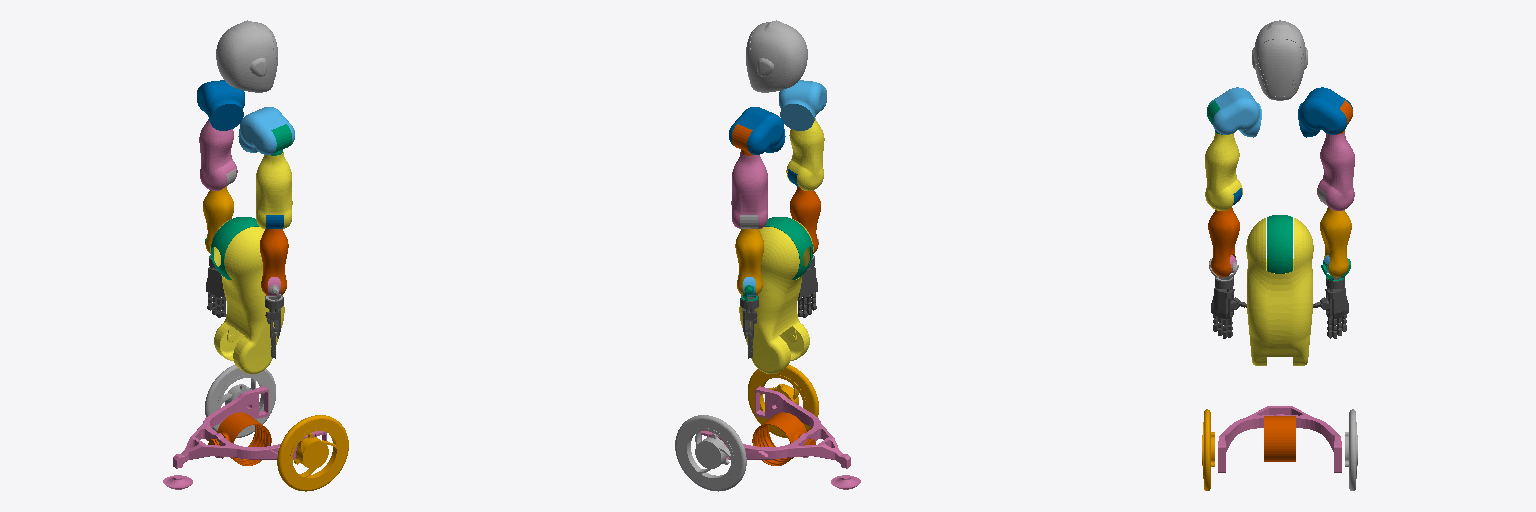
--- Facts derived from the render (not from the file) ---
3 views of the same robot in one strip: view 1: azimuth 30°, elevation 25°; view 2: azimuth 150°, elevation 25°; view 3: azimuth 270°, elevation 25° (orthographic).
Model Eve with 96 links and 95 joints (21 revolute, 2 continuous, 72 fixed), rooted at pelvis, posed all joints at 0 but 2 set to mid-range because 0 is outside their limits (j_r_shoulder_z = 1.09, j_l_shoulder_z = -1.09).
Links seen in each view (by area): view 1: thigh, r_wheel, head, base, r_upper_arm, l_wheel, l_upper_arm, l_scapula, r_scapula, r_lower_arm, ankle_y_link, l_lower_arm (+1 smaller); view 2: thigh, l_wheel, head, base, l_upper_arm, r_wheel, r_upper_arm, r_scapula, l_scapula, l_lower_arm, ankle_y_link, r_lower_arm (+1 smaller); view 3: thigh, head, l_upper_arm, r_upper_arm, base, r_scapula, l_scapula, r_lower_arm, l_lower_arm, hip_x_link, ankle_y_link, l_wheel (+3 smaller).
Boxes of the visible links, bbox=[...] form: thigh: bbox=[210, 219, 284, 373]; r_wheel: bbox=[277, 415, 348, 491]; head: bbox=[216, 20, 277, 92]; base: bbox=[163, 386, 326, 489]; r_upper_arm: bbox=[256, 152, 292, 228]; l_wheel: bbox=[205, 365, 275, 437]; l_upper_arm: bbox=[199, 119, 237, 190]; l_scapula: bbox=[197, 80, 244, 130]; r_scapula: bbox=[238, 107, 294, 154]; r_lower_arm: bbox=[260, 229, 288, 295]; ankle_y_link: bbox=[208, 412, 271, 465]; l_lower_arm: bbox=[203, 186, 233, 253]; thigh: bbox=[739, 219, 813, 373]; l_wheel: bbox=[675, 415, 746, 491]; head: bbox=[746, 20, 807, 92]; base: bbox=[701, 386, 860, 489]; l_upper_arm: bbox=[731, 152, 767, 228]; r_wheel: bbox=[748, 365, 818, 437]; r_upper_arm: bbox=[786, 118, 824, 190]; r_scapula: bbox=[779, 80, 826, 130]; l_scapula: bbox=[729, 107, 785, 154]; l_lower_arm: bbox=[735, 229, 763, 295]; ankle_y_link: bbox=[752, 412, 815, 465]; r_lower_arm: bbox=[790, 186, 820, 253]; thigh: bbox=[1246, 218, 1313, 365]; head: bbox=[1252, 20, 1307, 100]; l_upper_arm: bbox=[1317, 132, 1354, 210]; r_upper_arm: bbox=[1205, 132, 1242, 210]; base: bbox=[1218, 406, 1341, 472]; r_scapula: bbox=[1207, 87, 1261, 137]; l_scapula: bbox=[1298, 87, 1352, 137]; r_lower_arm: bbox=[1208, 207, 1239, 277]; l_lower_arm: bbox=[1320, 207, 1351, 277]; hip_x_link: bbox=[1267, 215, 1292, 273]; ankle_y_link: bbox=[1264, 416, 1295, 461]; l_wheel: bbox=[1345, 409, 1357, 490].
Size in the robot's own frame: 0.6336 by 0.5797 by 1.84 metres.
63 mesh visuals loaded from 25 distinct referenced files (22 OBJ); not drawn: 3 (reference not matched to a file when rendering).

robot.urdf — Eve:
<?xml version="1.0" encoding="UTF-8" standalone="yes"?>
<robot xmlns:ns2="http://www.ros.org" xmlns:xi="http://www.w3.org/2003/XInclude" name="Eve">

  <link name="pelvis">
    <inertial>
      <origin xyz="-0.01035145 -0.00576441 0.41289202" rpy="0.0 0.0 0.0"/>
      <mass value="10.11628645"/>
      <inertia ixx="0.16934147" ixy="1.49E-4" ixz="0.00652485" iyy="0.1566806" iyz="-0.00748297" izz="0.05486492"/>
    </inertial>
    <visual>
      <origin xyz="0.0 0.0 0.0" rpy="1.5707963 0.0 1.5707963"/>
      <geometry>
        <mesh filename="package://eve/meshes/7dof_torso.obj" scale="1 1 1"/>
      </geometry>
    </visual>
  </link>
  <joint name="j_hip_z" type="revolute">
    <origin xyz="0.0 0.0 0.0" rpy="0.0 0.0 0.0"/>
    <parent link="pelvis"/>
    <child link="abdomen"/>
    <axis xyz="0.0 0.0 1.0"/>
    <limit lower="-1.0472" upper="1.0472" effort="-1.0" velocity="1.0"/>
  </joint>
  <transmission name="j_hip_z_trans">
	  <type>transmission_interface/SimpleTransmission</type>
	  <joint name="j_hip_z">
	    <hardwareInterface>EffortJointInterface</hardwareInterface>
	  </joint>
	  <actuator name="j_hip_z_actuator">
	  </actuator>
	</transmission>

  <link name="abdomen">
    <inertial>
      <origin xyz="-0.05558735 0.00156974 0.13110756" rpy="0.0 0.0 0.0"/>
      <mass value="3.4381772"/>
      <inertia ixx="0.05607222" ixy="7.0118E-4" ixz="-0.01468099" iyy="0.05435718" iyz="-0.00188443" izz="0.02016737"/>
    </inertial>
    <visual>
      <origin xyz="0.0 0.0 0.0" rpy="1.5707963 0.0 1.5707963"/>
      <geometry>
        <mesh filename="package://eve/meshes/abdomen.obj" scale="1 1 1"/>
      </geometry>
    </visual>
  </link>
  <joint name="j_hip_x" type="revolute">
    <origin xyz="0.0 0.0 0.0" rpy="0.0 0.0 0.0"/>
    <parent link="abdomen"/>
    <child link="hip_x_link"/>
    <axis xyz="1.0 0.0 0.0"/>
    <limit lower="-0.523599" upper="0.523599" effort="-1.0" velocity="1.0"/>
  </joint>
  <link name="hip_x_link">
    <inertial>
      <origin xyz="-0.013462 -0.001267 -7.7E-5" rpy="0.0 0.0 0.0"/>
      <mass value="2.868669"/>
      <inertia ixx="0.013678" ixy="5.6E-5" ixz="-7.6E-4" iyy="0.014884" iyz="1.4E-5" izz="0.016484"/>
    </inertial>
    <visual>
      <origin xyz="0.0 0.0 0.0" rpy="1.5707963 0.0 1.5707963"/>
      <geometry>
        <mesh filename="package://eve/meshes/hip.obj" scale="1 1 1"/>
      </geometry>
    </visual>
  </link>
  <joint name="j_hip_y" type="revolute">
    <origin xyz="0.0 0.0 0.0" rpy="0.0 0.0 0.0"/>
    <parent link="hip_x_link"/>
    <child link="thigh"/>
    <axis xyz="0.0 1.0 0.0"/>
    <limit lower="-1.57" upper="0.174533" effort="-1.0" velocity="1.0"/>
  </joint>
  <link name="thigh">
    <inertial>
      <origin xyz="0.048668 0.002117 -0.216367" rpy="0.0 0.0 0.0"/>
      <mass value="12.846698"/>
      <inertia ixx="0.172201" ixy="-0.001348" ixz="0.012646" iyy="0.155119" iyz="-6.0E-4" izz="0.076153"/>
    </inertial>
    <visual>
      <origin xyz="0.0 0.0 0.0" rpy="1.5707963 0.0 1.5707963"/>
      <geometry>
        <mesh filename="package://eve/meshes/thigh.obj" scale="1 1 1"/>
      </geometry>
    </visual>
  </link>
  <joint name="j_knee_y" type="revolute">
    <origin xyz="0.0 0.0 -0.4" rpy="0.0 0.0 0.0"/>
    <parent link="thigh"/>
    <child link="shin"/>
    <axis xyz="0.0 1.0 0.0"/>
    <limit lower="0.0" upper="2.583" effort="-1.0" velocity="1.0"/>
  </joint>
  <link name="shin">
    <inertial>
      <origin xyz="0.019484 6.7E-5 -0.167324" rpy="0.0 0.0 0.0"/>
      <mass value="10.894892"/>
      <inertia ixx="0.191988" ixy="-2.08E-4" ixz="0.005202" iyy="0.176793" iyz="-3.45E-4" izz="0.049718"/>
    </inertial>
    <visual>
      <origin xyz="0.0 0.0 0.0" rpy="1.5707963 0.0 1.5707963"/>
      <geometry>
        <mesh filename="package://eve/meshes/shin.obj" scale="1 1 1"/>
      </geometry>
    </visual>
  </link>
  <joint name="j_ankle_y" type="revolute">
    <origin xyz="0.0 0.0 -0.38" rpy="0.0 0.0 0.0"/>
    <parent link="shin"/>
    <child link="ankle_y_link"/>
    <axis xyz="0.0 1.0 0.0"/>
    <limit lower="-1.57" upper="0.174533" effort="-1.0" velocity="1.0"/>
  </joint>
  <link name="ankle_y_link">
    <inertial>
      <origin xyz="-0.017821 0.001497 -6.49E-4" rpy="0.0 0.0 0.0"/>
      <mass value="2.656189"/>
      <inertia ixx="0.010249" ixy="-8.2E-5" ixz="2.65E-4" iyy="0.009117" iyz="9.0E-6" izz="0.013843"/>
    </inertial>
    <visual>
      <origin xyz="0.0 0.0 0.0" rpy="1.5707963 0.0 1.5707963"/>
      <geometry>
        <mesh filename="package://eve/meshes/ankle.obj" scale="1 1 1"/>
      </geometry>
    </visual>
  </link>
  <joint name="j_ankle_x" type="revolute">
    <origin xyz="0.0 0.0 0.0" rpy="0.0 0.0 0.0"/>
    <parent link="ankle_y_link"/>
    <child link="base"/>
    <axis xyz="1.0 0.0 0.0"/>
    <limit lower="-0.523599" upper="0.523599" effort="-1.0" velocity="1.0"/>
  </joint>
  <link name="base">
    <inertial>
      <origin xyz="0.021997 0.006327 -0.006204" rpy="0.0 0.0 0.0"/>
      <mass value="13.647499"/>
      <inertia ixx="0.461101" ixy="-0.004042" ixz="-0.020010" iyy="0.246583" iyz="-0.000110" izz="0.679520"/>
    </inertial>
    <visual>
      <origin xyz="0.0 0.0 0.0" rpy="1.5707963 0.0 1.5707963"/>
      <geometry>
        <mesh filename="package://eve/meshes/base_wheels.obj" scale="1 1 1"/>
      </geometry>
    </visual>
  </link>
  <joint name="j_l_wheel_y" type="continuous">
    <origin xyz="0.142 0.26983 0.019" rpy="0.0 0.0 0.0"/>
    <parent link="base"/>
    <child link="l_wheel"/>
    <axis xyz="0.0 1.0 0.0"/>
    <limit lower="-1.0E16" upper="1.0E16" effort="-1.0" velocity="1.0"/>
  </joint>
  <link name="l_wheel">
    <inertial>
      <origin xyz="0.0 0.0 0.0" rpy="0.0 0.0 0.0"/>
      <mass value="1.52693"/>
      <inertia ixx="0.007129" ixy="-0.0" ixz="-0.0" iyy="0.013685" iyz="-0.0" izz="0.007131"/>
    </inertial>
    <visual>
      <origin xyz="0.0 0.0 0.0" rpy="1.5707963 0.0 -1.5707963"/>
      <geometry>
        <mesh filename="package://eve/meshes/wheel.obj" scale="1 1 1"/>
      </geometry>
    </visual>
  </link>
  <joint name="j_r_wheel_y" type="continuous">
    <origin xyz="0.142 -0.26983 0.019" rpy="0.0 0.0 0.0"/>
    <parent link="base"/>
    <child link="r_wheel"/>
    <axis xyz="0.0 1.0 0.0"/>
    <limit lower="-1.0E16" upper="1.0E16" effort="-1.0" velocity="1.0"/>
  </joint>
  <link name="r_wheel">
    <inertial>
      <origin xyz="0.0 0.0 0.0" rpy="0.0 0.0 0.0"/>
      <mass value="1.52693"/>
      <inertia ixx="0.007129" ixy="-0.0" ixz="-0.0" iyy="0.013685" iyz="-0.0" izz="0.007131"/>
    </inertial>
    <visual>
      <origin xyz="0.0 0.0 0.0" rpy="1.5707963 0.0 1.5707963"/>
      <geometry>
        <mesh filename="package://eve/meshes/wheel.obj" scale="1 1 1"/>
      </geometry>
    </visual>
  </link>
  <gazebo reference="pelvis">
    <sensor name="imu_sensor" type="imu">
      <always_on>1</always_on>
      <update_rate>1000</update_rate>
      <imu>
        <noise>
          <type>gaussian</type>
          <rate>
            <mean>0</mean>
            <stddev>0.0002</stddev>
            <bias_mean>7.5e-06</bias_mean>
            <bias_stddev>8e-07</bias_stddev>
          </rate>
          <accel>
            <mean>0</mean>
            <stddev>0.017</stddev>
            <bias_mean>0.1</bias_mean>
            <bias_stddev>0.001</bias_stddev>
          </accel>
        </noise>
      </imu>
      <pose frame="">0.0 0.0 0.142 0 0.0 0</pose>
    </sensor>
  </gazebo>


  <joint name="j_r_shoulder_y" type="revolute">
    <origin xyz="0.010525 -0.207221 0.545525" rpy="-0.253261563 0.0 0.261799"/>
    <parent link="pelvis"/>
    <child link="r_scapula"/>
    <axis xyz="0.0 1.0 0.0"/>
    <limit lower="-2.4240878" upper="0.981049573" effort="-1.0" velocity="1.0"/>
  </joint>
  <link name="r_scapula">
    <inertial>
      <origin xyz="6.1099E-4 0.06306661 0.03032448" rpy="0.0 0.0 0.0"/>
      <mass value="2.75566786"/>
      <inertia ixx="0.00936557" ixy="2.264E-5" ixz="-7.112E-5" iyy="0.01079015" iyz="8.423E-4" izz="0.01267759"/>
    </inertial>
    <visual>
      <origin xyz="0.0 0.0 0.0" rpy="1.5707963 1.5707963 0.0"/>
      <geometry>
        <mesh filename="package://eve/meshes/7dof_scapula.obj" scale="1 1 1"/>
      </geometry>
    </visual>
  </link>
  <joint name="j_r_shoulder_x" type="revolute">
    <origin xyz="0.0 0.0 0.0" rpy="0.253261563 0.0 0.0"/>
    <parent link="r_scapula"/>
    <child link="r_shoulder"/>
    <axis xyz="1.0 0.0 0.0"/>
    <limit lower="-2.0943951" upper="0.0872665" effort="-1.0" velocity="1.0"/>
  </joint>
  <link name="r_shoulder">
    <inertial>
      <origin xyz="0.0 -7.0614E-4 -0.01975465" rpy="0.0 0.0 0.0"/>
      <mass value="0.70264272"/>
      <inertia ixx="0.00115475" ixy="-3.2E-7" ixz="-1.4E-7" iyy="0.00143713" iyz="2.63E-6" izz="9.4633E-4"/>
    </inertial>
    <visual>
      <origin xyz="0.0 0.0 0.0" rpy="1.5708 0 0"/>
      <geometry>
        <mesh filename="package://eve/meshes/7dof_shoulder.obj" scale="1 1 1"/>
      </geometry>
    </visual>
  </link>
  <joint name="j_r_shoulder_z" type="revolute">
    <origin xyz="0.0 0.0 0.0" rpy="0.0 0.0 -0.261799"/>
    <parent link="r_shoulder"/>
    <child link="r_upper_arm"/>
    <axis xyz="0.0 0.0 1.0"/>
    <limit lower="0.0872665" upper="2.0943951" effort="-1.0" velocity="1.0"/>
  </joint>
  <link name="r_upper_arm">
    <inertial>
      <origin xyz="-0.0062579 3.507E-5 -0.17187666" rpy="0.0 0.0 0.0"/>
      <mass value="2.92531724"/>
      <inertia ixx="0.01341653" ixy="-6.4E-7" ixz="-2.9063E-4" iyy="0.01287847" iyz="-3.08E-6" izz="0.00487381"/>
    </inertial>
    <visual>
      <origin xyz="0.0 0.0 -0.314" rpy="1.5707963 0.0 1.5707963"/>
      <geometry>
        <mesh filename="package://eve/meshes/7dof_upper_arm.obj" scale="1 1 1"/>
      </geometry>
    </visual>
  </link>
  <joint name="j_r_elbow_y" type="revolute">
    <origin xyz="0.0 0.0 -0.313989" rpy="0.0 0.0 0.0"/>
    <parent link="r_upper_arm"/>
    <child link="r_elbow"/>
    <axis xyz="0.0 1 0.0"/>
    <limit lower="-2.18166" upper="0.0" effort="-1.0" velocity="1.0"/>
  </joint>
  <link name="r_elbow">
    <inertial>
      <origin xyz="5.494E-5 0.0 -0.00888504" rpy="0.0 0.0 0.0"/>
      <mass value="0.46261553"/>
      <inertia ixx="8.227E-4" ixy="-0.0" ixz="9.6E-7" iyy="3.6441E-4" iyz="-0.0" izz="6.1472E-4"/>
    </inertial>
    <visual>
      <origin xyz="0.0 0.0 0.0" rpy="1.5707963 0.0 1.5707963"/>
      <geometry>
        <mesh filename="package://eve/meshes/7dof_elbow.obj" scale="1 1 1"/>
      </geometry>
    </visual>
  </link>
  <joint name="j_r_elbow_z" type="revolute">
    <origin xyz="0.0 0.0 0.0" rpy="0.0 0.0 0.0"/>
    <parent link="r_elbow"/>
    <child link="r_lower_arm"/>
    <axis xyz="0.0 0.0 1"/>
    <limit lower="-0.7854" upper="1.5708" effort="-1.0" velocity="1.0"/>
  </joint>
  <link name="r_lower_arm">
    <inertial>
      <origin xyz="-4.326E-5 3.091E-5 -0.13751046" rpy="0.0 0.0 0.0"/>
      <mass value="1.63933464"/>
      <inertia ixx="0.00678741" ixy="1.11E-6" ixz="-1.253E-5" iyy="0.00706746" iyz="1.485E-5" izz="0.00183806"/>
    </inertial>
    <visual>
      <origin xyz="0.0 0.0 -0.292850" rpy="1.5707963 0.0 1.5707963"/>
      <geometry>
        <mesh filename="package://eve/meshes/7dof_forearm.obj" scale="1 1 1"/>
      </geometry>
    </visual>
  </link>
  <joint name="j_r_wrist_y" type="revolute">
    <origin xyz="0.0 0.0 -0.292850" rpy="0.0 0.0 0.0"/>
    <parent link="r_lower_arm"/>
    <child link="r_wrist"/>
    <axis xyz="0.0 1 0.0"/>
    <limit lower="-0.785398" upper="0.785398" effort="-1.0" velocity="1.0"/>
  </joint>
  <link name="r_wrist">
    <inertial>
      <origin xyz="0.00240142 7.9666E-4 -0.00125392" rpy="0.0 0.0 0.0"/>
      <mass value="0.30363399"/>
      <inertia ixx="1.8188E-4" ixy="2.27E-6" ixz="-2.16E-6" iyy="1.6139E-4" iyz="-9.5E-7" izz="2.7335E-4"/>
    </inertial>
    <visual>
      <origin xyz="0.0 0.0 0.0" rpy="1.5707963 0.0 1.5707963"/>
      <geometry>
        <mesh filename="package://eve/meshes/7dof_wrist.obj" scale="1 1 1"/>
      </geometry>
    </visual>
  </link>
  <joint name="j_r_wrist_x" type="revolute">
    <origin xyz="0.0 0.0 0.0" rpy="0.0 0.0 0.0"/>
    <parent link="r_wrist"/>
    <child link="r_palm"/>
    <axis xyz="1 0.0 0.0"/>
    <limit lower="-0.523599" upper="1.5708" effort="-1.0" velocity="1.0"/>
  </joint>
  <link name="r_palm">
    <inertial>
      <origin xyz="0.00618476 -0.00346679 -0.01888817" rpy="0.0 0.0 0.0"/>
      <mass value="0.1486378"/>
      <inertia ixx="1.177E-4" ixy="-2.72E-6" ixz="-1.656E-5" iyy="2.8407E-4" iyz="-5.49E-6" izz="2.1805E-4"/>
    </inertial>
    <visual>
      <origin xyz="0.0 0.0 0.0" rpy="-1.5707963 0.0 0.0"/>
      <geometry>
        <mesh filename="package://eve/meshes/7dof_palm.obj" scale="1 1 1"/>
      </geometry>
    </visual>
  </link>
  <material name="qbhand_right/optional">
    <color rgba="0.0 0.5 0.8 1.0"/>
  </material>
  <material name="qbhand_right/base">
    <color rgba="0.35 0.35 0.35 1.0"/>
  </material>
  <material name="qbhand_right/palm">
    <color rgba="0.35 0.35 0.35 1.0"/>
  </material>
  <material name="qbhand_right/knuckle">
    <color rgba="0.35 0.35 0.35 1.0"/>
  </material>
  <material name="qbhand_right/proximal">
    <color rgba="0.35 0.35 0.35 1.0"/>
  </material>
  <material name="qbhand_right/middle">
    <color rgba="0.35 0.35 0.35 1.0"/>
  </material>
  <material name="qbhand_right/distal">
    <color rgba="0.35 0.35 0.35 1.0"/>
  </material>
  <material name="qbhand_right/default">
    <color rgba="0.35 0.35 0.35 1.0"/>
  </material>
  <joint name="qbhand_right_base_fixed_joint" type="fixed">
    <origin rpy="3.14 0 3.14" xyz="0 0 -0.06"/>
    <parent link="r_palm"/>
    <child link="qbhand_right_base_link"/>
  </joint>
  <link name="qbhand_right_base_link">
    <inertial>
      <mass value="0.15"/>
      <origin xyz="0 0 0.0015"/>
      <inertia ixx="6e-05" ixy="0" ixz="0" iyy="6e-05" iyz="0" izz="9e-05"/>
    </inertial>
    <visual>
      <origin rpy="0 0 0" xyz="0 0 0"/>
      <geometry>
        <mesh filename="package://qb_hand_description/meshes/flange_iso_04.obj" scale="0.001 0.001 0.001"/>
      </geometry>
      <material name="qbhand_right/base"/>
    </visual>
    <collision>
      <origin rpy="0 0 0" xyz="0 0 0"/>
      <geometry>
        <mesh filename="package://qb_hand_description/meshes/flange_iso_04.obj" scale="0.001 0.001 0.001"/>
      </geometry>
    </collision>
  </link>
  <joint name="qbhand_right_palm_fixed_joint" type="fixed">
    <origin rpy="1.57 0 0" xyz="-0.0045 0.0145 0.144"/>
    <parent link="qbhand_right_base_link"/>
    <child link="qbhand_right_palm_link"/>
  </joint>
  <link name="qbhand_right_palm_link">
    <inertial>
      <mass value="0.36"/>
      <origin xyz="0.0 0.02 0.05"/>
      <inertia ixx="0.00045" ixy="0.0" ixz="0.0" iyy="0.0006" iyz="0.0" izz="0.00025"/>
    </inertial>
    <visual>
      <origin rpy="0 0 0" xyz="0 0 0"/>
      <geometry>
        <mesh filename="package://qb_hand_description/meshes/palm_pinch_r.obj" scale="0.001 0.001 0.001"/>
      </geometry>
      <material name="qbhand_right/palm"/>
    </visual>
    <collision>
      <origin rpy="0 0 0" xyz="0 0 0"/>
      <geometry>
        <mesh filename="package://qb_hand_description/meshes/palm_pinch_r.obj" scale="0.001 0.001 0.001"/>
      </geometry>
    </collision>
  </link>
  <joint name="qbhand_right_synergy_joint" type="fixed">
    <origin rpy="0 0 0" xyz="0 0 0"/>
    <parent link="qbhand_right_palm_link"/>
    <child link="qbhand_right_tendon_virtual_link"/>
    <axis xyz="0 0 1"/>
    <dynamics damping="0.0" friction="0.0"/>
    <limit effort="100" lower="0.0" upper="1.0" velocity="100"/>
  </joint>
  <link name="qbhand_right_tendon_virtual_link">
    <inertial>
      <origin rpy="0 0 0" xyz="0 0 0"/>
      <mass value="0.005"/>
      <inertia ixx="1e-08" ixy="0.0" ixz="0.0" iyy="1e-08" iyz="0.0" izz="1e-08"/>
    </inertial>
  </link>
  <joint name="qbhand_right_thumb_knuckle_joint" type="fixed">
    <origin rpy="-1.57 3.14 0" xyz="-0.0435 -0.0435 -0.002"/>
    <parent link="qbhand_right_palm_link"/>
    <child link="qbhand_right_thumb_knuckle_link"/>
    <axis xyz="0 0 -1"/>
    <dynamics damping="0.0" friction="0.0"/>
    <limit effort="100" lower="0.0" upper="1.571" velocity="100"/>
    <mimic joint="qbhand_right_synergy_joint" multiplier="2.542"/>
  </joint>
  <link name="qbhand_right_thumb_knuckle_link">
    <inertial>
      <mass value="0.005"/>
      <origin xyz="0 0 0"/>
      <inertia ixx="1e-06" ixy="0.0" ixz="0.0" iyy="1e-06" iyz="0.0" izz="1e-06"/>
    </inertial>
    <visual>
      <origin rpy="0 0 0" xyz="0 0 0"/>
      <geometry>
        <mesh filename="package://qb_hand_description/meshes/ph_thumb_r.obj" scale="0.001 0.001 0.001"/>
      </geometry>
      <material name="qbhand_right/knuckle"/>
    </visual>
    <collision>
      <origin rpy="0 0 0" xyz="0 0 0"/>
      <geometry>
        <mesh filename="package://qb_hand_description/meshes/ph_thumb_r.obj" scale="0.001 0.001 0.001"/>
      </geometry>
    </collision>
  </link>
  <joint name="qbhand_right_thumb_proximal_joint" type="fixed">
    <origin rpy="-1.15 0.0 0.0" xyz="0.0255 -0.004 -0.0025"/>
    <parent link="qbhand_right_thumb_knuckle_link"/>
    <child link="qbhand_right_thumb_proximal_virtual_link"/>
    <axis xyz="0 0 -1"/>
    <dynamics damping="0.0" friction="0.0"/>
    <limit effort="100" lower="0.0" upper="0.785" velocity="100"/>
    <mimic joint="qbhand_right_synergy_joint" multiplier="0.785"/>
  </joint>
  <link name="qbhand_right_thumb_proximal_virtual_link">
    <inertial>
      <origin rpy="0 0 0" xyz="0 0 0"/>
      <mass value="0.005"/>
      <inertia ixx="1e-08" ixy="0.0" ixz="0.0" iyy="1e-08" iyz="0.0" izz="1e-08"/>
    </inertial>
  </link>
  <joint name="qbhand_right_thumb_proximal_virtual_joint" type="fixed">
    <origin rpy="0 0 0" xyz="0.013 0 0"/>
    <parent link="qbhand_right_thumb_proximal_virtual_link"/>
    <child link="qbhand_right_thumb_proximal_link"/>
    <axis xyz="0 0 -1"/>
    <dynamics damping="0.0" friction="0.0"/>
    <limit effort="100" lower="0.0" upper="0.785" velocity="100"/>
    <mimic joint="qbhand_right_thumb_proximal_joint" multiplier="1.0"/>
  </joint>
  <link name="qbhand_right_thumb_proximal_link">
    <inertial>
      <mass value="0.005"/>
      <origin xyz="0 0 0"/>
      <inertia ixx="1e-06" ixy="0.0" ixz="0.0" iyy="1e-06" iyz="0.0" izz="1e-06"/>
    </inertial>
    <visual>
      <origin rpy="0 0 0" xyz="0 0 0"/>
      <geometry>
        <mesh filename="package://qb_hand_description/meshes/ph_small.obj" scale="0.001 0.001 0.001"/>
      </geometry>
      <material name="qbhand_right/proximal"/>
    </visual>
    <collision>
      <origin rpy="0 0 0" xyz="0 0 0"/>
      <geometry>
        <mesh filename="package://qb_hand_description/meshes/ph_small.obj" scale="0.001 0.001 0.001"/>
      </geometry>
    </collision>
  </link>
  <joint name="qbhand_right_thumb_distal_joint" type="fixed">
    <origin rpy="0 0 0" xyz="0.009 0 0"/>
    <parent link="qbhand_right_thumb_proximal_link"/>
    <child link="qbhand_right_thumb_distal_virtual_link"/>
    <axis xyz="0 0 -1"/>
    <dynamics damping="0.0" friction="0.0"/>
    <limit effort="100" lower="0.0" upper="0.785" velocity="100"/>
    <mimic joint="qbhand_right_synergy_joint" multiplier="0.785"/>
  </joint>
  <link name="qbhand_right_thumb_distal_virtual_link">
    <inertial>
      <origin rpy="0 0 0" xyz="0 0 0"/>
      <mass value="0.005"/>
      <inertia ixx="1e-08" ixy="0.0" ixz="0.0" iyy="1e-08" iyz="0.0" izz="1e-08"/>
    </inertial>
  </link>
  <joint name="qbhand_right_thumb_distal_virtual_joint" type="fixed">
    <origin rpy="0 0 0" xyz="0.013 0 0"/>
    <parent link="qbhand_right_thumb_distal_virtual_link"/>
    <child link="qbhand_right_thumb_distal_link"/>
    <axis xyz="0 0 -1"/>
    <dynamics damping="0.0" friction="0.0"/>
    <limit effort="100" lower="0.0" upper="0.785" velocity="100"/>
    <mimic joint="qbhand_right_thumb_distal_joint" multiplier="1.0"/>
  </joint>
  <link name="qbhand_right_thumb_distal_link">
    <inertial>
      <mass value="0.005"/>
      <origin xyz="0 0 0"/>
      <inertia ixx="1e-06" ixy="0.0" ixz="0.0" iyy="1e-06" iyz="0.0" izz="1e-06"/>
    </inertial>
    <visual>
      <origin rpy="0 0 0" xyz="0 0 0"/>
      <geometry>
        <mesh filename="package://qb_hand_description/meshes/ph_distal.obj" scale="0.001 0.001 0.001"/>
      </geometry>
      <material name="qbhand_right/distal"/>
    </visual>
    <collision>
      <origin rpy="0 0 0" xyz="0 0 0"/>
      <geometry>
        <mesh filename="package://qb_hand_description/meshes/ph_distal.obj" scale="0.001 0.001 0.001"/>
      </geometry>
    </collision>
  </link>
  <joint name="qbhand_right_index_knuckle_joint" type="fixed">
    <origin rpy="0 0 0" xyz="-0.02 -0.007 0.014"/>
    <parent link="qbhand_right_palm_link"/>
    <child link="qbhand_right_index_knuckle_link"/>
    <axis xyz="0 0 -1"/>
    <dynamics damping="0.0" friction="0.0"/>
    <limit effort="100" lower="-0.524" upper="0.524" velocity="100"/>
    <mimic joint="qbhand_right_synergy_joint" multiplier="-0.2"/>
  </joint>
  <link name="qbhand_right_index_knuckle_link">
    <inertial>
      <mass value="0.005"/>
      <origin xyz="0 0 0"/>
      <inertia ixx="1e-06" ixy="0.0" ixz="0.0" iyy="1e-06" iyz="0.0" izz="1e-06"/>
    </inertial>
    <visual>
      <origin rpy="0 0 0" xyz="0 0 0"/>
      <geometry>
        <mesh filename="package://qb_hand_description/meshes/ph_knuckle.obj" scale="0.001 0.001 0.001"/>
      </geometry>
      <material name="qbhand_right/knuckle"/>
    </visual>
    <collision>
      <origin rpy="0 0 0" xyz="0 0 0"/>
      <geometry>
        <mesh filename="package://qb_hand_description/meshes/ph_knuckle.obj" scale="0.001 0.001 0.001"/>
      </geometry>
    </collision>
  </link>
  <joint name="qbhand_right_index_proximal_joint" type="fixed">
    <origin rpy="1.57 0 1.57" xyz="0 0.009 0"/>
    <parent link="qbhand_right_index_knuckle_link"/>
    <child link="qbhand_right_index_proximal_virtual_link"/>
    <axis xyz="0 0 -1"/>
    <dynamics damping="0.0" friction="0.0"/>
    <limit effort="100" lower="0.0" upper="0.785" velocity="100"/>
    <mimic joint="qbhand_right_synergy_joint" multiplier="0.785"/>
  </joint>
  <link name="qbhand_right_index_proximal_virtual_link">
    <inertial>
      <origin rpy="0 0 0" xyz="0 0 0"/>
      <mass value="0.005"/>
      <inertia ixx="1e-08" ixy="0.0" ixz="0.0" iyy="1e-08" iyz="0.0" izz="1e-08"/>
    </inertial>
  </link>
  <joint name="qbhand_right_index_proximal_virtual_joint" type="fixed">
    <origin rpy="0 0 0" xyz="0.013 0 0"/>
    <parent link="qbhand_right_index_proximal_virtual_link"/>
    <child link="qbhand_right_index_proximal_link"/>
    <axis xyz="0 0 -1"/>
    <dynamics damping="0.0" friction="0.0"/>
    <limit effort="100" lower="0.0" upper="0.785" velocity="100"/>
    <mimic joint="qbhand_right_index_proximal_joint" multiplier="1.0"/>
  </joint>
  <link name="qbhand_right_index_proximal_link">
    <inertial>
      <mass value="0.005"/>
      <origin xyz="0 0 0"/>
      <inertia ixx="1e-06" ixy="0.0" ixz="0.0" iyy="1e-06" iyz="0.0" izz="1e-06"/>
    </inertial>
    <visual>
      <origin rpy="0 0 0" xyz="0 0 0"/>
      <geometry>
        <mesh filename="package://qb_hand_description/meshes/ph_medium.obj" scale="0.001 0.001 0.001"/>
      </geometry>
      <material name="qbhand_right/proximal"/>
    </visual>
    <collision>
      <origin rpy="0 0 0" xyz="0 0 0"/>
      <geometry>
        <mesh filename="package://qb_hand_description/meshes/ph_medium.obj" scale="0.001 0.001 0.001"/>
      </geometry>
    </collision>
  </link>
  <joint name="qbhand_right_index_middle_joint" type="fixed">
    <origin rpy="0 0 0" xyz="0.017 0 0"/>
    <parent link="qbhand_right_index_proximal_link"/>
    <child link="qbhand_right_index_middle_virtual_link"/>
    <axis xyz="0 0 -1"/>
    <dynamics damping="0.0" friction="0.0"/>
    <limit effort="100" lower="0.0" upper="0.785" velocity="100"/>
    <mimic joint="qbhand_right_synergy_joint" multiplier="0.785"/>
  </joint>
  <link name="qbhand_right_index_middle_virtual_link">
    <inertial>
      <origin rpy="0 0 0" xyz="0 0 0"/>
      <mass value="0.005"/>
      <inertia ixx="1e-08" ixy="0.0" ixz="0.0" iyy="1e-08" iyz="0.0" izz="1e-08"/>
    </inertial>
  </link>
  <joint name="qbhand_right_index_middle_virtual_joint" type="fixed">
    <origin rpy="0 0 0" xyz="0.013 0 0"/>
    <parent link="qbhand_right_index_middle_virtual_link"/>
    <child link="qbhand_right_index_middle_link"/>
    <axis xyz="0 0 -1"/>
    <dynamics damping="0.0" friction="0.0"/>
    <limit effort="100" lower="0.0" upper="0.785" velocity="100"/>
    <mimic joint="qbhand_right_index_middle_joint" multiplier="1.0"/>
  </joint>
  <link name="qbhand_right_index_middle_link">
    <inertial>
      <mass value="0.005"/>
      <origin xyz="0 0 0"/>
      <inertia ixx="1e-06" ixy="0.0" ixz="0.0" iyy="1e-06" iyz="0.0" izz="1e-06"/>
    </inertial>
    <visual>
      <origin rpy="0 0 0" xyz="0 0 0"/>
      <geometry>
        <mesh filename="package://qb_hand_description/meshes/ph_small.obj" scale="0.001 0.001 0.001"/>
      </geometry>
      <material name="qbhand_right/middle"/>
    </visual>
    <collision>
      <origin rpy="0 0 0" xyz="0 0 0"/>
      <geometry>
        <mesh filename="package://qb_hand_description/meshes/ph_small.obj" scale="0.001 0.001 0.001"/>
      </geometry>
    </collision>
  </link>
  <joint name="qbhand_right_index_distal_joint" type="fixed">
    <origin rpy="0 0 0" xyz="0.009 0 0"/>
    <parent link="qbhand_right_index_middle_link"/>
    <child link="qbhand_right_index_distal_virtual_link"/>
    <axis xyz="0 0 -1"/>
    <dynamics damping="0.0" friction="0.0"/>
    <limit effort="100" lower="0.0" upper="0.785" velocity="100"/>
    <mimic joint="qbhand_right_synergy_joint" multiplier="0.785"/>
  </joint>
  <link name="qbhand_right_index_distal_virtual_link">
    <inertial>
      <origin rpy="0 0 0" xyz="0 0 0"/>
      <mass value="0.005"/>
      <inertia ixx="1e-08" ixy="0.0" ixz="0.0" iyy="1e-08" iyz="0.0" izz="1e-08"/>
    </inertial>
  </link>
  <joint name="qbhand_right_index_distal_virtual_joint" type="fixed">
    <origin rpy="0 0 0" xyz="0.013 0 0"/>
    <parent link="qbhand_right_index_distal_virtual_link"/>
    <child link="qbhand_right_index_distal_link"/>
    <axis xyz="0 0 -1"/>
    <dynamics damping="0.0" friction="0.0"/>
    <limit effort="100" lower="0.0" upper="0.785" velocity="100"/>
    <mimic joint="qbhand_right_index_distal_joint" multiplier="1.0"/>
  </joint>
  <link name="qbhand_right_index_distal_link">
    <inertial>
      <mass value="0.005"/>
      <origin xyz="0 0 0"/>
      <inertia ixx="1e-06" ixy="0.0" ixz="0.0" iyy="1e-06" iyz="0.0" izz="1e-06"/>
    </inertial>
    <visual>
      <origin rpy="0 0 0" xyz="0 0 0"/>
      <geometry>
        <mesh filename="package://qb_hand_description/meshes/ph_distal.obj" scale="0.001 0.001 0.001"/>
      </geometry>
      <material name="qbhand_right/distal"/>
    </visual>
    <collision>
      <origin rpy="0 0 0" xyz="0 0 0"/>
      <geometry>
        <mesh filename="package://qb_hand_description/meshes/ph_distal.obj" scale="0.001 0.001 0.001"/>
      </geometry>
    </collision>
  </link>
  <joint name="qbhand_right_middle_knuckle_joint" type="fixed">
    <origin rpy="0 0 0" xyz="0 0 0.014"/>
    <parent link="qbhand_right_palm_link"/>
    <child link="qbhand_right_middle_knuckle_link"/>
    <axis xyz="0 0 -1"/>
    <dynamics damping="0.0" friction="0.0"/>
    <limit effort="100" lower="-0.524" upper="0.524" velocity="100"/>
    <mimic joint="qbhand_right_synergy_joint" multiplier="0.0"/>
  </joint>
  <link name="qbhand_right_middle_knuckle_link">
    <inertial>
      <mass value="0.005"/>
      <origin xyz="0 0 0"/>
      <inertia ixx="1e-06" ixy="0.0" ixz="0.0" iyy="1e-06" iyz="0.0" izz="1e-06"/>
    </inertial>
    <visual>
      <origin rpy="0 0 0" xyz="0 0 0"/>
      <geometry>
        <mesh filename="package://qb_hand_description/meshes/ph_knuckle.obj" scale="0.001 0.001 0.001"/>
      </geometry>
      <material name="qbhand_right/knuckle"/>
    </visual>
    <collision>
      <origin rpy="0 0 0" xyz="0 0 0"/>
      <geometry>
        <mesh filename="package://qb_hand_description/meshes/ph_knuckle.obj" scale="0.001 0.001 0.001"/>
      </geometry>
    </collision>
  </link>
  <joint name="qbhand_right_middle_proximal_joint" type="fixed">
    <origin rpy="1.57 0 1.57" xyz="0 0.009 0"/>
    <parent link="qbhand_right_middle_knuckle_link"/>
    <child link="qbhand_right_middle_proximal_virtual_link"/>
    <axis xyz="0 0 -1"/>
    <dynamics damping="0.0" friction="0.0"/>
    <limit effort="100" lower="0.0" upper="0.785" velocity="100"/>
    <mimic joint="qbhand_right_synergy_joint" multiplier="0.785"/>
  </joint>
  <link name="qbhand_right_middle_proximal_virtual_link">
    <inertial>
      <origin rpy="0 0 0" xyz="0 0 0"/>
      <mass value="0.005"/>
      <inertia ixx="1e-08" ixy="0.0" ixz="0.0" iyy="1e-08" iyz="0.0" izz="1e-08"/>
    </inertial>
  </link>
  <joint name="qbhand_right_middle_proximal_virtual_joint" type="fixed">
    <origin rpy="0 0 0" xyz="0.013 0 0"/>
    <parent link="qbhand_right_middle_proximal_virtual_link"/>
    <child link="qbhand_right_middle_proximal_link"/>
    <axis xyz="0 0 -1"/>
    <dynamics damping="0.0" friction="0.0"/>
    <limit effort="100" lower="0.0" upper="0.785" velocity="100"/>
    <mimic joint="qbhand_right_middle_proximal_joint" multiplier="1.0"/>
  </joint>
  <link name="qbhand_right_middle_proximal_link">
    <inertial>
      <mass value="0.005"/>
      <origin xyz="0 0 0"/>
      <inertia ixx="1e-06" ixy="0.0" ixz="0.0" iyy="1e-06" iyz="0.0" izz="1e-06"/>
    </inertial>
    <visual>
      <origin rpy="0 0 0" xyz="0 0 0"/>
      <geometry>
        <mesh filename="package://qb_hand_description/meshes/ph_medium.obj" scale="0.001 0.001 0.001"/>
      </geometry>
      <material name="qbhand_right/proximal"/>
    </visual>
    <collision>
      <origin rpy="0 0 0" xyz="0 0 0"/>
      <geometry>
        <mesh filename="package://qb_hand_description/meshes/ph_medium.obj" scale="0.001 0.001 0.001"/>
      </geometry>
    </collision>
  </link>
  <joint name="qbhand_right_middle_middle_joint" type="fixed">
    <origin rpy="0 0 0" xyz="0.017 0 0"/>
    <parent link="qbhand_right_middle_proximal_link"/>
    <child link="qbhand_right_middle_middle_virtual_link"/>
    <axis xyz="0 0 -1"/>
    <dynamics damping="0.0" friction="0.0"/>
    <limit effort="100" lower="0.0" upper="0.785" velocity="100"/>
    <mimic joint="qbhand_right_synergy_joint" multiplier="0.785"/>
  </joint>
  <link name="qbhand_right_middle_middle_virtual_link">
    <inertial>
      <origin rpy="0 0 0" xyz="0 0 0"/>
      <mass value="0.005"/>
      <inertia ixx="1e-08" ixy="0.0" ixz="0.0" iyy="1e-08" iyz="0.0" izz="1e-08"/>
    </inertial>
  </link>
  <joint name="qbhand_right_middle_middle_virtual_joint" type="fixed">
    <origin rpy="0 0 0" xyz="0.013 0 0"/>
    <parent link="qbhand_right_middle_middle_virtual_link"/>
    <child link="qbhand_right_middle_middle_link"/>
    <axis xyz="0 0 -1"/>
    <dynamics damping="0.0" friction="0.0"/>
    <limit effort="100" lower="0.0" upper="0.785" velocity="100"/>
    <mimic joint="qbhand_right_middle_middle_joint" multiplier="1.0"/>
  </joint>
  <link name="qbhand_right_middle_middle_link">
    <inertial>
      <mass value="0.005"/>
      <origin xyz="0 0 0"/>
      <inertia ixx="1e-06" ixy="0.0" ixz="0.0" iyy="1e-06" iyz="0.0" izz="1e-06"/>
    </inertial>
    <visual>
      <origin rpy="0 0 0" xyz="0 0 0"/>
      <geometry>
        <mesh filename="package://qb_hand_description/meshes/ph_small.obj" scale="0.001 0.001 0.001"/>
      </geometry>
      <material name="qbhand_right/middle"/>
    </visual>
    <collision>
      <origin rpy="0 0 0" xyz="0 0 0"/>
      <geometry>
        <mesh filename="package://qb_hand_description/meshes/ph_small.obj" scale="0.001 0.001 0.001"/>
      </geometry>
    </collision>
  </link>
  <joint name="qbhand_right_middle_distal_joint" type="fixed">
    <origin rpy="0 0 0" xyz="0.009 0 0"/>
    <parent link="qbhand_right_middle_middle_link"/>
    <child link="qbhand_right_middle_distal_virtual_link"/>
    <axis xyz="0 0 -1"/>
    <dynamics damping="0.0" friction="0.0"/>
    <limit effort="100" lower="0.0" upper="0.785" velocity="100"/>
    <mimic joint="qbhand_right_synergy_joint" multiplier="0.785"/>
  </joint>
  <link name="qbhand_right_middle_distal_virtual_link">
    <inertial>
      <origin rpy="0 0 0" xyz="0 0 0"/>
      <mass value="0.005"/>
      <inertia ixx="1e-08" ixy="0.0" ixz="0.0" iyy="1e-08" iyz="0.0" izz="1e-08"/>
    </inertial>
  </link>
  <joint name="qbhand_right_middle_distal_virtual_joint" type="fixed">
    <origin rpy="0 0 0" xyz="0.013 0 0"/>
    <parent link="qbhand_right_middle_distal_virtual_link"/>
    <child link="qbhand_right_middle_distal_link"/>
    <axis xyz="0 0 -1"/>
    <dynamics damping="0.0" friction="0.0"/>
    <limit effort="100" lower="0.0" upper="0.785" velocity="100"/>
    <mimic joint="qbhand_right_middle_distal_joint" multiplier="1.0"/>
  </joint>
  <link name="qbhand_right_middle_distal_link">
    <inertial>
      <mass value="0.005"/>
      <origin xyz="0 0 0"/>
      <inertia ixx="1e-06" ixy="0.0" ixz="0.0" iyy="1e-06" iyz="0.0" izz="1e-06"/>
    </inertial>
    <visual>
      <origin rpy="0 0 0" xyz="0 0 0"/>
      <geometry>
        <mesh filename="package://qb_hand_description/meshes/ph_distal.obj" scale="0.001 0.001 0.001"/>
      </geometry>
      <material name="qbhand_right/distal"/>
    </visual>
    <collision>
      <origin rpy="0 0 0" xyz="0 0 0"/>
      <geometry>
        <mesh filename="package://qb_hand_description/meshes/ph_distal.obj" scale="0.001 0.001 0.001"/>
      </geometry>
    </collision>
  </link>
  <joint name="qbhand_right_ring_knuckle_joint" type="fixed">
    <origin rpy="0 0 0" xyz="0.02 -0.007 0.014"/>
    <parent link="qbhand_right_palm_link"/>
    <child link="qbhand_right_ring_knuckle_link"/>
    <axis xyz="0 0 -1"/>
    <dynamics damping="0.0" friction="0.0"/>
    <limit effort="100" lower="-0.524" upper="0.524" velocity="100"/>
    <mimic joint="qbhand_right_synergy_joint" multiplier="0.2"/>
  </joint>
  <link name="qbhand_right_ring_knuckle_link">
    <inertial>
      <mass value="0.005"/>
      <origin xyz="0 0 0"/>
      <inertia ixx="1e-06" ixy="0.0" ixz="0.0" iyy="1e-06" iyz="0.0" izz="1e-06"/>
    </inertial>
    <visual>
      <origin rpy="0 0 0" xyz="0 0 0"/>
      <geometry>
        <mesh filename="package://qb_hand_description/meshes/ph_knuckle.obj" scale="0.001 0.001 0.001"/>
      </geometry>
      <material name="qbhand_right/knuckle"/>
    </visual>
    <collision>
      <origin rpy="0 0 0" xyz="0 0 0"/>
      <geometry>
        <mesh filename="package://qb_hand_description/meshes/ph_knuckle.obj" scale="0.001 0.001 0.001"/>
      </geometry>
    </collision>
  </link>
  <joint name="qbhand_right_ring_proximal_joint" type="fixed">
    <origin rpy="1.57 0 1.57" xyz="0 0.009 0"/>
    <parent link="qbhand_right_ring_knuckle_link"/>
    <child link="qbhand_right_ring_proximal_virtual_link"/>
    <axis xyz="0 0 -1"/>
    <dynamics damping="0.0" friction="0.0"/>
    <limit effort="100" lower="0.0" upper="0.785" velocity="100"/>
    <mimic joint="qbhand_right_synergy_joint" multiplier="0.785"/>
  </joint>
  <link name="qbhand_right_ring_proximal_virtual_link">
    <inertial>
      <origin rpy="0 0 0" xyz="0 0 0"/>
      <mass value="0.005"/>
      <inertia ixx="1e-08" ixy="0.0" ixz="0.0" iyy="1e-08" iyz="0.0" izz="1e-08"/>
    </inertial>
  </link>
  <joint name="qbhand_right_ring_proximal_virtual_joint" type="fixed">
    <origin rpy="0 0 0" xyz="0.013 0 0"/>
    <parent link="qbhand_right_ring_proximal_virtual_link"/>
    <child link="qbhand_right_ring_proximal_link"/>
    <axis xyz="0 0 -1"/>
    <dynamics damping="0.0" friction="0.0"/>
    <limit effort="100" lower="0.0" upper="0.785" velocity="100"/>
    <mimic joint="qbhand_right_ring_proximal_joint" multiplier="1.0"/>
  </joint>
  <link name="qbhand_right_ring_proximal_link">
    <inertial>
      <mass value="0.005"/>
      <origin xyz="0 0 0"/>
      <inertia ixx="1e-06" ixy="0.0" ixz="0.0" iyy="1e-06" iyz="0.0" izz="1e-06"/>
    </inertial>
    <visual>
      <origin rpy="0 0 0" xyz="0 0 0"/>
      <geometry>
        <mesh filename="package://qb_hand_description/meshes/ph_medium.obj" scale="0.001 0.001 0.001"/>
      </geometry>
      <material name="qbhand_right/proximal"/>
    </visual>
    <collision>
      <origin rpy="0 0 0" xyz="0 0 0"/>
      <geometry>
        <mesh filename="package://qb_hand_description/meshes/ph_medium.obj" scale="0.001 0.001 0.001"/>
      </geometry>
    </collision>
  </link>
  <joint name="qbhand_right_ring_middle_joint" type="fixed">
    <origin rpy="0 0 0" xyz="0.017 0 0"/>
    <parent link="qbhand_right_ring_proximal_link"/>
    <child link="qbhand_right_ring_middle_virtual_link"/>
    <axis xyz="0 0 -1"/>
    <dynamics damping="0.0" friction="0.0"/>
    <limit effort="100" lower="0.0" upper="0.785" velocity="100"/>
    <mimic joint="qbhand_right_synergy_joint" multiplier="0.785"/>
  </joint>
  <link name="qbhand_right_ring_middle_virtual_link">
    <inertial>
      <origin rpy="0 0 0" xyz="0 0 0"/>
      <mass value="0.005"/>
      <inertia ixx="1e-08" ixy="0.0" ixz="0.0" iyy="1e-08" iyz="0.0" izz="1e-08"/>
    </inertial>
  </link>
  <joint name="qbhand_right_ring_middle_virtual_joint" type="fixed">
    <origin rpy="0 0 0" xyz="0.013 0 0"/>
    <parent link="qbhand_right_ring_middle_virtual_link"/>
    <child link="qbhand_right_ring_middle_link"/>
    <axis xyz="0 0 -1"/>
    <dynamics damping="0.0" friction="0.0"/>
    <limit effort="100" lower="0.0" upper="0.785" velocity="100"/>
    <mimic joint="qbhand_right_ring_middle_joint" multiplier="1.0"/>
  </joint>
  <link name="qbhand_right_ring_middle_link">
    <inertial>
      <mass value="0.005"/>
      <origin xyz="0 0 0"/>
      <inertia ixx="1e-06" ixy="0.0" ixz="0.0" iyy="1e-06" iyz="0.0" izz="1e-06"/>
    </inertial>
    <visual>
      <origin rpy="0 0 0" xyz="0 0 0"/>
      <geometry>
        <mesh filename="package://qb_hand_description/meshes/ph_small.obj" scale="0.001 0.001 0.001"/>
      </geometry>
      <material name="qbhand_right/middle"/>
    </visual>
    <collision>
      <origin rpy="0 0 0" xyz="0 0 0"/>
      <geometry>
        <mesh filename="package://qb_hand_description/meshes/ph_small.obj" scale="0.001 0.001 0.001"/>
      </geometry>
    </collision>
  </link>
  <joint name="qbhand_right_ring_distal_joint" type="fixed">
    <origin rpy="0 0 0" xyz="0.009 0 0"/>
    <parent link="qbhand_right_ring_middle_link"/>
    <child link="qbhand_right_ring_distal_virtual_link"/>
    <axis xyz="0 0 -1"/>
    <dynamics damping="0.0" friction="0.0"/>
    <limit effort="100" lower="0.0" upper="0.785" velocity="100"/>
    <mimic joint="qbhand_right_synergy_joint" multiplier="0.785"/>
  </joint>
  <link name="qbhand_right_ring_distal_virtual_link">
    <inertial>
      <origin rpy="0 0 0" xyz="0 0 0"/>
      <mass value="0.005"/>
      <inertia ixx="1e-08" ixy="0.0" ixz="0.0" iyy="1e-08" iyz="0.0" izz="1e-08"/>
    </inertial>
  </link>
  <joint name="qbhand_right_ring_distal_virtual_joint" type="fixed">
    <origin rpy="0 0 0" xyz="0.013 0 0"/>
    <parent link="qbhand_right_ring_distal_virtual_link"/>
    <child link="qbhand_right_ring_distal_link"/>
    <axis xyz="0 0 -1"/>
    <dynamics damping="0.0" friction="0.0"/>
    <limit effort="100" lower="0.0" upper="0.785" velocity="100"/>
    <mimic joint="qbhand_right_ring_distal_joint" multiplier="1.0"/>
  </joint>
  <link name="qbhand_right_ring_distal_link">
    <inertial>
      <mass value="0.005"/>
      <origin xyz="0 0 0"/>
      <inertia ixx="1e-06" ixy="0.0" ixz="0.0" iyy="1e-06" iyz="0.0" izz="1e-06"/>
    </inertial>
    <visual>
      <origin rpy="0 0 0" xyz="0 0 0"/>
      <geometry>
        <mesh filename="package://qb_hand_description/meshes/ph_distal.obj" scale="0.001 0.001 0.001"/>
      </geometry>
      <material name="qbhand_right/distal"/>
    </visual>
    <collision>
      <origin rpy="0 0 0" xyz="0 0 0"/>
      <geometry>
        <mesh filename="package://qb_hand_description/meshes/ph_distal.obj" scale="0.001 0.001 0.001"/>
      </geometry>
    </collision>
  </link>
  <joint name="qbhand_right_little_knuckle_joint" type="fixed">
    <origin rpy="0 0 0" xyz="0.04 -0.012 0.014"/>
    <parent link="qbhand_right_palm_link"/>
    <child link="qbhand_right_little_knuckle_link"/>
    <axis xyz="0 0 -1"/>
    <dynamics damping="0.0" friction="0.0"/>
    <limit effort="100" lower="-0.524" upper="0.524" velocity="100"/>
    <mimic joint="qbhand_right_synergy_joint" multiplier="0.4"/>
  </joint>
  <link name="qbhand_right_little_knuckle_link">
    <inertial>
      <mass value="0.005"/>
      <origin xyz="0 0 0"/>
      <inertia ixx="1e-06" ixy="0.0" ixz="0.0" iyy="1e-06" iyz="0.0" izz="1e-06"/>
    </inertial>
    <visual>
      <origin rpy="0 0 0" xyz="0 0 0"/>
      <geometry>
        <mesh filename="package://qb_hand_description/meshes/ph_knuckle.obj" scale="0.001 0.001 0.001"/>
      </geometry>
      <material name="qbhand_right/knuckle"/>
    </visual>
    <collision>
      <origin rpy="0 0 0" xyz="0 0 0"/>
      <geometry>
        <mesh filename="package://qb_hand_description/meshes/ph_knuckle.obj" scale="0.001 0.001 0.001"/>
      </geometry>
    </collision>
  </link>
  <joint name="qbhand_right_little_proximal_joint" type="fixed">
    <origin rpy="1.57 0 1.57" xyz="0 0.009 0"/>
    <parent link="qbhand_right_little_knuckle_link"/>
    <child link="qbhand_right_little_proximal_virtual_link"/>
    <axis xyz="0 0 -1"/>
    <dynamics damping="0.0" friction="0.0"/>
    <limit effort="100" lower="0.0" upper="0.785" velocity="100"/>
    <mimic joint="qbhand_right_synergy_joint" multiplier="0.785"/>
  </joint>
  <link name="qbhand_right_little_proximal_virtual_link">
    <inertial>
      <origin rpy="0 0 0" xyz="0 0 0"/>
      <mass value="0.005"/>
      <inertia ixx="1e-08" ixy="0.0" ixz="0.0" iyy="1e-08" iyz="0.0" izz="1e-08"/>
    </inertial>
  </link>
  <joint name="qbhand_right_little_proximal_virtual_joint" type="fixed">
    <origin rpy="0 0 0" xyz="0.013 0 0"/>
    <parent link="qbhand_right_little_proximal_virtual_link"/>
    <child link="qbhand_right_little_proximal_link"/>
    <axis xyz="0 0 -1"/>
    <dynamics damping="0.0" friction="0.0"/>
    <limit effort="100" lower="0.0" upper="0.785" velocity="100"/>
    <mimic joint="qbhand_right_little_proximal_joint" multiplier="1.0"/>
  </joint>
  <link name="qbhand_right_little_proximal_link">
    <inertial>
      <mass value="0.005"/>
      <origin xyz="0 0 0"/>
      <inertia ixx="1e-06" ixy="0.0" ixz="0.0" iyy="1e-06" iyz="0.0" izz="1e-06"/>
    </inertial>
    <visual>
      <origin rpy="0 0 0" xyz="0 0 0"/>
      <geometry>
        <mesh filename="package://qb_hand_description/meshes/ph_small.obj" scale="0.001 0.001 0.001"/>
      </geometry>
      <material name="qbhand_right/proximal"/>
    </visual>
    <collision>
      <origin rpy="0 0 0" xyz="0 0 0"/>
      <geometry>
        <mesh filename="package://qb_hand_description/meshes/ph_small.obj" scale="0.001 0.001 0.001"/>
      </geometry>
    </collision>
  </link>
  <joint name="qbhand_right_little_middle_joint" type="fixed">
    <origin rpy="0 0 0" xyz="0.009 0 0"/>
    <parent link="qbhand_right_little_proximal_link"/>
    <child link="qbhand_right_little_middle_virtual_link"/>
    <axis xyz="0 0 -1"/>
    <dynamics damping="0.0" friction="0.0"/>
    <limit effort="100" lower="0.0" upper="0.785" velocity="100"/>
    <mimic joint="qbhand_right_synergy_joint" multiplier="0.785"/>
  </joint>
  <link name="qbhand_right_little_middle_virtual_link">
    <inertial>
      <origin rpy="0 0 0" xyz="0 0 0"/>
      <mass value="0.005"/>
      <inertia ixx="1e-08" ixy="0.0" ixz="0.0" iyy="1e-08" iyz="0.0" izz="1e-08"/>
    </inertial>
  </link>
  <joint name="qbhand_right_little_middle_virtual_joint" type="fixed">
    <origin rpy="0 0 0" xyz="0.013 0 0"/>
    <parent link="qbhand_right_little_middle_virtual_link"/>
    <child link="qbhand_right_little_middle_link"/>
    <axis xyz="0 0 -1"/>
    <dynamics damping="0.0" friction="0.0"/>
    <limit effort="100" lower="0.0" upper="0.785" velocity="100"/>
    <mimic joint="qbhand_right_little_middle_joint" multiplier="1.0"/>
  </joint>
  <link name="qbhand_right_little_middle_link">
    <inertial>
      <mass value="0.005"/>
      <origin xyz="0 0 0"/>
      <inertia ixx="1e-06" ixy="0.0" ixz="0.0" iyy="1e-06" iyz="0.0" izz="1e-06"/>
    </inertial>
    <visual>
      <origin rpy="0 0 0" xyz="0 0 0"/>
      <geometry>
        <mesh filename="package://qb_hand_description/meshes/ph_small.obj" scale="0.001 0.001 0.001"/>
      </geometry>
      <material name="qbhand_right/middle"/>
    </visual>
    <collision>
      <origin rpy="0 0 0" xyz="0 0 0"/>
      <geometry>
        <mesh filename="package://qb_hand_description/meshes/ph_small.obj" scale="0.001 0.001 0.001"/>
      </geometry>
    </collision>
  </link>
  <joint name="qbhand_right_little_distal_joint" type="fixed">
    <origin rpy="0 0 0" xyz="0.009 0 0"/>
    <parent link="qbhand_right_little_middle_link"/>
    <child link="qbhand_right_little_distal_virtual_link"/>
    <axis xyz="0 0 -1"/>
    <dynamics damping="0.0" friction="0.0"/>
    <limit effort="100" lower="0.0" upper="0.785" velocity="100"/>
    <mimic joint="qbhand_right_synergy_joint" multiplier="0.785"/>
  </joint>
  <link name="qbhand_right_little_distal_virtual_link">
    <inertial>
      <origin rpy="0 0 0" xyz="0 0 0"/>
      <mass value="0.005"/>
      <inertia ixx="1e-08" ixy="0.0" ixz="0.0" iyy="1e-08" iyz="0.0" izz="1e-08"/>
    </inertial>
  </link>
  <joint name="qbhand_right_little_distal_virtual_joint" type="fixed">
    <origin rpy="0 0 0" xyz="0.013 0 0"/>
    <parent link="qbhand_right_little_distal_virtual_link"/>
    <child link="qbhand_right_little_distal_link"/>
    <axis xyz="0 0 -1"/>
    <dynamics damping="0.0" friction="0.0"/>
    <limit effort="100" lower="0.0" upper="0.785" velocity="100"/>
    <mimic joint="qbhand_right_little_distal_joint" multiplier="1.0"/>
  </joint>
  <link name="qbhand_right_little_distal_link">
    <inertial>
      <mass value="0.005"/>
      <origin xyz="0 0 0"/>
      <inertia ixx="1e-06" ixy="0.0" ixz="0.0" iyy="1e-06" iyz="0.0" izz="1e-06"/>
    </inertial>
    <visual>
      <origin rpy="0 0 0" xyz="0 0 0"/>
      <geometry>
        <mesh filename="package://qb_hand_description/meshes/ph_distal.obj" scale="0.001 0.001 0.001"/>
      </geometry>
      <material name="qbhand_right/distal"/>
    </visual>
    <collision>
      <origin rpy="0 0 0" xyz="0 0 0"/>
      <geometry>
        <mesh filename="package://qb_hand_description/meshes/ph_distal.obj" scale="0.001 0.001 0.001"/>
      </geometry>
    </collision>
  </link>


  <joint name="j_l_shoulder_y" type="revolute">
    <origin xyz="0.010525 0.207221 0.545525" rpy="0.253261563 0.0 -0.261799"/>
    <parent link="pelvis"/>
    <child link="l_scapula"/>
    <axis xyz="0.0 1.0 0.0"/>
    <limit lower="-2.4240878" upper="0.981049573" effort="-1.0" velocity="1.0"/>
  </joint>
  <link name="l_scapula">
    <inertial>
      <origin xyz="-6.1099E-4 -0.06306661 0.03032448" rpy="0.0 0.0 0.0"/>
      <mass value="2.75566786"/>
      <inertia ixx="0.00936557" ixy="2.264E-5" ixz="7.112E-5" iyy="0.01079015" iyz="-8.423E-4" izz="0.01267759"/>
    </inertial>
    <visual>
      <origin xyz="0.0 0.0 0.0" rpy="0.0 1.5707963 1.5707963"/>
      <geometry>
        <mesh filename="package://eve/meshes/7dof_scapula.obj" scale="1 1 1"/>
      </geometry>
    </visual>
  </link>
  <joint name="j_l_shoulder_x" type="revolute">
    <origin xyz="0.0 0.0 0.0" rpy="-0.253261563 0.0 0.0"/>
    <parent link="l_scapula"/>
    <child link="l_shoulder"/>
    <axis xyz="1.0 0.0 0.0"/>
    <limit lower="-0.0872665" upper="2.0943951" effort="-1.0" velocity="1.0"/>
  </joint>
  <link name="l_shoulder">
    <inertial>
      <origin xyz="0.0 7.0624E-4 -0.01975437" rpy="0.0 0.0 0.0"/>
      <mass value="0.70265653"/>
      <inertia ixx="0.00115475" ixy="-3.2E-7" ixz="1.3E-7" iyy="0.00143715" iyz="-2.63E-6" izz="9.4634E-4"/>
    </inertial>
    <visual>
      <origin xyz="0.0 0.0 0.0" rpy="1.5708 0.0 0.0"/>
      <geometry>
        <mesh filename="package://eve/meshes/7dof_shoulder.obj" scale="1 1 1"/>
      </geometry>
    </visual>
  </link>
  <joint name="j_l_shoulder_z" type="revolute">
    <origin xyz="0.0 0.0 0.0" rpy="0.0 0.0 0.261799"/>
    <parent link="l_shoulder"/>
    <child link="l_upper_arm"/>
    <axis xyz="0.0 0.0 1.0"/>
    <limit lower="-2.0943951" upper="-0.0872665" effort="-1.0" velocity="1.0"/>
  </joint>
  <link name="l_upper_arm">
    <inertial>
      <origin xyz="-0.0062579 3.507E-5 -0.17187666" rpy="0.0 0.0 0.0"/>
      <mass value="2.92531724"/>
      <inertia ixx="0.01341653" ixy="-6.4E-7" ixz="-2.9063E-4" iyy="0.01287847" iyz="-3.08E-6" izz="0.00487381"/>
    </inertial>
    <visual>
      <origin xyz="0.0 0.0 -0.314" rpy="1.5707963 0.0 1.5707963"/>
      <geometry>
        <mesh filename="package://eve/meshes/7dof_upper_arm.obj" scale="1 1 1"/>
      </geometry>
    </visual>
  </link>
  <joint name="j_l_elbow_y" type="revolute">
    <origin xyz="0.0 0.0 -0.313989" rpy="0.0 0.0 0.0"/>
    <parent link="l_upper_arm"/>
    <child link="l_elbow"/>
    <axis xyz="0.0 1.0 0.0"/>
    <limit lower="-2.18166" upper="0.0" effort="-1.0" velocity="1.0"/>
  </joint>
  <link name="l_elbow">
    <inertial>
      <origin xyz="5.494E-5 0.0 -0.00888504" rpy="0.0 0.0 0.0"/>
      <mass value="0.46261553"/>
      <inertia ixx="8.227E-4" ixy="-0.0" ixz="9.6E-7" iyy="3.6441E-4" iyz="-0.0" izz="6.1472E-4"/>
    </inertial>
    <visual>
      <origin xyz="0.0 0.0 0.0" rpy="1.5707963 0.0 1.5707963"/>
      <geometry>
        <mesh filename="package://eve/meshes/7dof_elbow.obj" scale="1 1 1"/>
      </geometry>
    </visual>
  </link>
  <joint name="j_l_elbow_z" type="revolute">
    <origin xyz="0.0 0.0 0.0" rpy="0.0 0.0 0.0"/>
    <parent link="l_elbow"/>
    <child link="l_lower_arm"/>
    <axis xyz="0.0 0.0 1.0"/>
    <limit lower="-1.5708" upper="0.7854" effort="-1.0" velocity="1.0"/>
  </joint>
  <link name="l_lower_arm">
    <inertial>
      <origin xyz="-4.326E-5 3.091E-5 -0.13751046" rpy="0.0 0.0 0.0"/>
      <mass value="1.63933464"/>
      <inertia ixx="0.00678741" ixy="1.11E-6" ixz="-1.253E-5" iyy="0.00706746" iyz="1.485E-5" izz="0.00183806"/>
    </inertial>
    <visual>
      <origin xyz="0.0 0.0 -0.29285" rpy="1.5707963 0.0 1.5707963"/>
      <geometry>
        <mesh filename="package://eve/meshes/7dof_forearm.obj" scale="1 1 1"/>
      </geometry>
    </visual>
  </link>
  <joint name="j_l_wrist_y" type="revolute">
    <origin xyz="0.0 0.0 -0.29285" rpy="0.0 0.0 0.0"/>
    <parent link="l_lower_arm"/>
    <child link="l_wrist"/>
    <axis xyz="0.0 1.0 0.0"/>
    <limit lower="-0.785398" upper="0.785398" effort="-1.0" velocity="1.0"/>
  </joint>
  <link name="l_wrist">
    <inertial>
      <origin xyz="0.00240142 7.9666E-4 -0.00125392" rpy="0.0 0.0 0.0"/>
      <mass value="0.30363399"/>
      <inertia ixx="1.8188E-4" ixy="2.27E-6" ixz="-2.16E-6" iyy="1.6139E-4" iyz="-9.5E-7" izz="2.7335E-4"/>
    </inertial>
    <visual>
      <origin xyz="0.0 0.0 0.0" rpy="1.5707963 0.0 1.5707963"/>
      <geometry>
        <mesh filename="package://eve/meshes/7dof_wrist.obj" scale="1 1 1"/>
      </geometry>
    </visual>
  </link>
  <joint name="j_l_wrist_x" type="revolute">
    <origin xyz="0.0 0.0 0.0" rpy="0.0 0.0 0.0"/>
    <parent link="l_wrist"/>
    <child link="l_palm"/>
    <axis xyz="1.0 0.0 0.0"/>
    <limit lower="-1.5708" upper="0.523599" effort="-1.0" velocity="1.0"/>
  </joint>
  <link name="l_palm">
    <inertial>
      <origin xyz="0.00618476 -0.00346679 -0.01888817" rpy="0.0 0.0 0.0"/>
      <mass value="0.1486378"/>
      <inertia ixx="1.177E-4" ixy="-2.72E-6" ixz="-1.656E-5" iyy="2.8407E-4" iyz="-5.49E-6" izz="2.1805E-4"/>
    </inertial>
    <visual>
      <origin xyz="0.0 0.0 0.0" rpy="-1.5707963 0.0 3.14159"/>
      <geometry>
        <mesh filename="package://eve/meshes/7dof_palm.obj" scale="1 1 1"/>
      </geometry>
    </visual>
  </link>
  <material name="qbhand_left/optional">
    <color rgba="0.0 0.5 0.8 1.0"/>
  </material>
  <material name="qbhand_left/base">
    <color rgba="0.35 0.35 0.35 1.0"/>
  </material>
  <material name="qbhand_left/palm">
    <color rgba="0.35 0.35 0.35 1.0"/>
  </material>
  <material name="qbhand_left/knuckle">
    <color rgba="0.35 0.35 0.35 1.0"/>
  </material>
  <material name="qbhand_left/proximal">
    <color rgba="0.35 0.35 0.35 1.0"/>
  </material>
  <material name="qbhand_left/middle">
    <color rgba="0.35 0.35 0.35 1.0"/>
  </material>
  <material name="qbhand_left/distal">
    <color rgba="0.35 0.35 0.35 1.0"/>
  </material>
  <material name="qbhand_left/default">
    <color rgba="0.35 0.35 0.35 1.0"/>
  </material>
  <joint name="qbhand_left_base_fixed_joint" type="fixed">
    <origin rpy="3.14 0 0.0" xyz="0 0 -0.06"/>
    <parent link="l_palm"/>
    <child link="qbhand_left_base_link"/>
  </joint>
  <link name="qbhand_left_base_link">
    <inertial>
      <mass value="0.15"/>
      <origin xyz="0 0 0.0015"/>
      <inertia ixx="6e-05" ixy="0" ixz="0" iyy="6e-05" iyz="0" izz="9e-05"/>
    </inertial>
    <visual>
      <origin rpy="0 0 0" xyz="0 0 0"/>
      <geometry>
        <mesh filename="package://qb_hand_description/meshes/flange_iso_04.obj" scale="0.001 0.001 0.001"/>
      </geometry>
      <material name="qbhand_left/base"/>
    </visual>
    <collision>
      <origin rpy="0 0 0" xyz="0 0 0"/>
      <geometry>
        <mesh filename="package://qb_hand_description/meshes/flange_iso_04.obj" scale="0.001 0.001 0.001"/>
      </geometry>
    </collision>
  </link>
  <joint name="qbhand_left_palm_fixed_joint" type="fixed">
    <origin rpy="1.57 0 3.14" xyz="0.0045 0.0145 0.144"/>
    <parent link="qbhand_left_base_link"/>
    <child link="qbhand_left_palm_link"/>
  </joint>
  <link name="qbhand_left_palm_link">
    <inertial>
      <mass value="0.36"/>
      <origin xyz="0.0 0.02 0.05"/>
      <inertia ixx="0.00045" ixy="0.0" ixz="0.0" iyy="0.0006" iyz="0.0" izz="0.00025"/>
    </inertial>
    <visual>
      <origin rpy="0 0 0" xyz="0 0 0"/>
      <geometry>
        <mesh filename="package://qb_hand_description/meshes/palm_pinch_l.obj" scale="0.001 0.001 0.001"/>
      </geometry>
      <material name="qbhand_left/palm"/>
    </visual>
    <collision>
      <origin rpy="0 0 0" xyz="0 0 0"/>
      <geometry>
        <mesh filename="package://qb_hand_description/meshes/palm_pinch_l.obj" scale="0.001 0.001 0.001"/>
      </geometry>
    </collision>
  </link>
  <joint name="qbhand_left_synergy_joint" type="fixed">
    <origin rpy="0 0 0" xyz="0 0 0"/>
    <parent link="qbhand_left_palm_link"/>
    <child link="qbhand_left_tendon_virtual_link"/>
    <axis xyz="0 0 1"/>
    <dynamics damping="0.0" friction="0.0"/>
    <limit effort="100" lower="0.0" upper="1.0" velocity="100"/>
  </joint>
  <link name="qbhand_left_tendon_virtual_link">
    <inertial>
      <origin rpy="0 0 0" xyz="0 0 0"/>
      <mass value="0.005"/>
      <inertia ixx="1e-08" ixy="0.0" ixz="0.0" iyy="1e-08" iyz="0.0" izz="1e-08"/>
    </inertial>
  </link>
  <joint name="qbhand_left_thumb_knuckle_joint" type="fixed">
    <origin rpy="1.57 3.14 0" xyz="-0.0435 -0.0435 -0.002"/>
    <parent link="qbhand_left_palm_link"/>
    <child link="qbhand_left_thumb_knuckle_link"/>
    <axis xyz="0 0 -1"/>
    <dynamics damping="0.0" friction="0.0"/>
    <limit effort="100" lower="0.0" upper="1.571" velocity="100"/>
    <mimic joint="qbhand_left_synergy_joint" multiplier="2.542"/>
  </joint>
  <link name="qbhand_left_thumb_knuckle_link">
    <inertial>
      <mass value="0.005"/>
      <origin xyz="0 0 0"/>
      <inertia ixx="1e-06" ixy="0.0" ixz="0.0" iyy="1e-06" iyz="0.0" izz="1e-06"/>
    </inertial>
    <visual>
      <origin rpy="0 0 0" xyz="0 0 0"/>
      <geometry>
        <mesh filename="package://qb_hand_description/meshes/ph_thumb_l.obj" scale="0.001 0.001 0.001"/>
      </geometry>
      <material name="qbhand_left/knuckle"/>
    </visual>
    <collision>
      <origin rpy="0 0 0" xyz="0 0 0"/>
      <geometry>
        <mesh filename="package://qb_hand_description/meshes/ph_thumb_l.obj" scale="0.001 0.001 0.001"/>
      </geometry>
    </collision>
  </link>
  <joint name="qbhand_left_thumb_proximal_joint" type="fixed">
    <origin rpy="1.15 0.0 0.0" xyz="0.0255 -0.004 0.0025"/>
    <parent link="qbhand_left_thumb_knuckle_link"/>
    <child link="qbhand_left_thumb_proximal_virtual_link"/>
    <axis xyz="0 0 -1"/>
    <dynamics damping="0.0" friction="0.0"/>
    <limit effort="100" lower="0.0" upper="0.785" velocity="100"/>
    <mimic joint="qbhand_left_synergy_joint" multiplier="0.785"/>
  </joint>
  <link name="qbhand_left_thumb_proximal_virtual_link">
    <inertial>
      <origin rpy="0 0 0" xyz="0 0 0"/>
      <mass value="0.005"/>
      <inertia ixx="1e-08" ixy="0.0" ixz="0.0" iyy="1e-08" iyz="0.0" izz="1e-08"/>
    </inertial>
  </link>
  <joint name="qbhand_left_thumb_proximal_virtual_joint" type="fixed">
    <origin rpy="0 0 0" xyz="0.013 0 0"/>
    <parent link="qbhand_left_thumb_proximal_virtual_link"/>
    <child link="qbhand_left_thumb_proximal_link"/>
    <axis xyz="0 0 -1"/>
    <dynamics damping="0.0" friction="0.0"/>
    <limit effort="100" lower="0.0" upper="0.785" velocity="100"/>
    <mimic joint="qbhand_left_thumb_proximal_joint" multiplier="1.0"/>
  </joint>
  <link name="qbhand_left_thumb_proximal_link">
    <inertial>
      <mass value="0.005"/>
      <origin xyz="0 0 0"/>
      <inertia ixx="1e-06" ixy="0.0" ixz="0.0" iyy="1e-06" iyz="0.0" izz="1e-06"/>
    </inertial>
    <visual>
      <origin rpy="0 0 0" xyz="0 0 0"/>
      <geometry>
        <mesh filename="package://qb_hand_description/meshes/ph_small.obj" scale="0.001 0.001 0.001"/>
      </geometry>
      <material name="qbhand_left/proximal"/>
    </visual>
    <collision>
      <origin rpy="0 0 0" xyz="0 0 0"/>
      <geometry>
        <mesh filename="package://qb_hand_description/meshes/ph_small.obj" scale="0.001 0.001 0.001"/>
      </geometry>
    </collision>
  </link>
  <joint name="qbhand_left_thumb_distal_joint" type="fixed">
    <origin rpy="0 0 0" xyz="0.009 0 0"/>
    <parent link="qbhand_left_thumb_proximal_link"/>
    <child link="qbhand_left_thumb_distal_virtual_link"/>
    <axis xyz="0 0 -1"/>
    <dynamics damping="0.0" friction="0.0"/>
    <limit effort="100" lower="0.0" upper="0.785" velocity="100"/>
    <mimic joint="qbhand_left_synergy_joint" multiplier="0.785"/>
  </joint>
  <link name="qbhand_left_thumb_distal_virtual_link">
    <inertial>
      <origin rpy="0 0 0" xyz="0 0 0"/>
      <mass value="0.005"/>
      <inertia ixx="1e-08" ixy="0.0" ixz="0.0" iyy="1e-08" iyz="0.0" izz="1e-08"/>
    </inertial>
  </link>
  <joint name="qbhand_left_thumb_distal_virtual_joint" type="fixed">
    <origin rpy="0 0 0" xyz="0.013 0 0"/>
    <parent link="qbhand_left_thumb_distal_virtual_link"/>
    <child link="qbhand_left_thumb_distal_link"/>
    <axis xyz="0 0 -1"/>
    <dynamics damping="0.0" friction="0.0"/>
    <limit effort="100" lower="0.0" upper="0.785" velocity="100"/>
    <mimic joint="qbhand_left_thumb_distal_joint" multiplier="1.0"/>
  </joint>
  <link name="qbhand_left_thumb_distal_link">
    <inertial>
      <mass value="0.005"/>
      <origin xyz="0 0 0"/>
      <inertia ixx="1e-06" ixy="0.0" ixz="0.0" iyy="1e-06" iyz="0.0" izz="1e-06"/>
    </inertial>
    <visual>
      <origin rpy="0 0 0" xyz="0 0 0"/>
      <geometry>
        <mesh filename="package://qb_hand_description/meshes/ph_distal.obj" scale="0.001 0.001 0.001"/>
      </geometry>
      <material name="qbhand_left/distal"/>
    </visual>
    <collision>
      <origin rpy="0 0 0" xyz="0 0 0"/>
      <geometry>
        <mesh filename="package://qb_hand_description/meshes/ph_distal.obj" scale="0.001 0.001 0.001"/>
      </geometry>
    </collision>
  </link>
  <joint name="qbhand_left_index_knuckle_joint" type="fixed">
    <origin rpy="0 3.14 0" xyz="-0.02 -0.007 -0.014"/>
    <parent link="qbhand_left_palm_link"/>
    <child link="qbhand_left_index_knuckle_link"/>
    <axis xyz="0 0 -1"/>
    <dynamics damping="0.0" friction="0.0"/>
    <limit effort="100" lower="-0.524" upper="0.524" velocity="100"/>
    <mimic joint="qbhand_left_synergy_joint" multiplier="0.2"/>
  </joint>
  <link name="qbhand_left_index_knuckle_link">
    <inertial>
      <mass value="0.005"/>
      <origin xyz="0 0 0"/>
      <inertia ixx="1e-06" ixy="0.0" ixz="0.0" iyy="1e-06" iyz="0.0" izz="1e-06"/>
    </inertial>
    <visual>
      <origin rpy="0 0 0" xyz="0 0 0"/>
      <geometry>
        <mesh filename="package://qb_hand_description/meshes/ph_knuckle.obj" scale="0.001 0.001 0.001"/>
      </geometry>
      <material name="qbhand_left/knuckle"/>
    </visual>
    <collision>
      <origin rpy="0 0 0" xyz="0 0 0"/>
      <geometry>
        <mesh filename="package://qb_hand_description/meshes/ph_knuckle.obj" scale="0.001 0.001 0.001"/>
      </geometry>
    </collision>
  </link>
  <joint name="qbhand_left_index_proximal_joint" type="fixed">
    <origin rpy="1.57 0 1.57" xyz="0 0.009 0"/>
    <parent link="qbhand_left_index_knuckle_link"/>
    <child link="qbhand_left_index_proximal_virtual_link"/>
    <axis xyz="0 0 -1"/>
    <dynamics damping="0.0" friction="0.0"/>
    <limit effort="100" lower="0.0" upper="0.785" velocity="100"/>
    <mimic joint="qbhand_left_synergy_joint" multiplier="0.785"/>
  </joint>
  <link name="qbhand_left_index_proximal_virtual_link">
    <inertial>
      <origin rpy="0 0 0" xyz="0 0 0"/>
      <mass value="0.005"/>
      <inertia ixx="1e-08" ixy="0.0" ixz="0.0" iyy="1e-08" iyz="0.0" izz="1e-08"/>
    </inertial>
  </link>
  <joint name="qbhand_left_index_proximal_virtual_joint" type="fixed">
    <origin rpy="0 0 0" xyz="0.013 0 0"/>
    <parent link="qbhand_left_index_proximal_virtual_link"/>
    <child link="qbhand_left_index_proximal_link"/>
    <axis xyz="0 0 -1"/>
    <dynamics damping="0.0" friction="0.0"/>
    <limit effort="100" lower="0.0" upper="0.785" velocity="100"/>
    <mimic joint="qbhand_left_index_proximal_joint" multiplier="1.0"/>
  </joint>
  <link name="qbhand_left_index_proximal_link">
    <inertial>
      <mass value="0.005"/>
      <origin xyz="0 0 0"/>
      <inertia ixx="1e-06" ixy="0.0" ixz="0.0" iyy="1e-06" iyz="0.0" izz="1e-06"/>
    </inertial>
    <visual>
      <origin rpy="0 0 0" xyz="0 0 0"/>
      <geometry>
        <mesh filename="package://qb_hand_description/meshes/ph_medium.obj" scale="0.001 0.001 0.001"/>
      </geometry>
      <material name="qbhand_left/proximal"/>
    </visual>
    <collision>
      <origin rpy="0 0 0" xyz="0 0 0"/>
      <geometry>
        <mesh filename="package://qb_hand_description/meshes/ph_medium.obj" scale="0.001 0.001 0.001"/>
      </geometry>
    </collision>
  </link>
  <joint name="qbhand_left_index_middle_joint" type="fixed">
    <origin rpy="0 0 0" xyz="0.017 0 0"/>
    <parent link="qbhand_left_index_proximal_link"/>
    <child link="qbhand_left_index_middle_virtual_link"/>
    <axis xyz="0 0 -1"/>
    <dynamics damping="0.0" friction="0.0"/>
    <limit effort="100" lower="0.0" upper="0.785" velocity="100"/>
    <mimic joint="qbhand_left_synergy_joint" multiplier="0.785"/>
  </joint>
  <link name="qbhand_left_index_middle_virtual_link">
    <inertial>
      <origin rpy="0 0 0" xyz="0 0 0"/>
      <mass value="0.005"/>
      <inertia ixx="1e-08" ixy="0.0" ixz="0.0" iyy="1e-08" iyz="0.0" izz="1e-08"/>
    </inertial>
  </link>
  <joint name="qbhand_left_index_middle_virtual_joint" type="fixed">
    <origin rpy="0 0 0" xyz="0.013 0 0"/>
    <parent link="qbhand_left_index_middle_virtual_link"/>
    <child link="qbhand_left_index_middle_link"/>
    <axis xyz="0 0 -1"/>
    <dynamics damping="0.0" friction="0.0"/>
    <limit effort="100" lower="0.0" upper="0.785" velocity="100"/>
    <mimic joint="qbhand_left_index_middle_joint" multiplier="1.0"/>
  </joint>
  <link name="qbhand_left_index_middle_link">
    <inertial>
      <mass value="0.005"/>
      <origin xyz="0 0 0"/>
      <inertia ixx="1e-06" ixy="0.0" ixz="0.0" iyy="1e-06" iyz="0.0" izz="1e-06"/>
    </inertial>
    <visual>
      <origin rpy="0 0 0" xyz="0 0 0"/>
      <geometry>
        <mesh filename="package://qb_hand_description/meshes/ph_small.obj" scale="0.001 0.001 0.001"/>
      </geometry>
      <material name="qbhand_left/middle"/>
    </visual>
    <collision>
      <origin rpy="0 0 0" xyz="0 0 0"/>
      <geometry>
        <mesh filename="package://qb_hand_description/meshes/ph_small.obj" scale="0.001 0.001 0.001"/>
      </geometry>
    </collision>
  </link>
  <joint name="qbhand_left_index_distal_joint" type="fixed">
    <origin rpy="0 0 0" xyz="0.009 0 0"/>
    <parent link="qbhand_left_index_middle_link"/>
    <child link="qbhand_left_index_distal_virtual_link"/>
    <axis xyz="0 0 -1"/>
    <dynamics damping="0.0" friction="0.0"/>
    <limit effort="100" lower="0.0" upper="0.785" velocity="100"/>
    <mimic joint="qbhand_left_synergy_joint" multiplier="0.785"/>
  </joint>
  <link name="qbhand_left_index_distal_virtual_link">
    <inertial>
      <origin rpy="0 0 0" xyz="0 0 0"/>
      <mass value="0.005"/>
      <inertia ixx="1e-08" ixy="0.0" ixz="0.0" iyy="1e-08" iyz="0.0" izz="1e-08"/>
    </inertial>
  </link>
  <joint name="qbhand_left_index_distal_virtual_joint" type="fixed">
    <origin rpy="0 0 0" xyz="0.013 0 0"/>
    <parent link="qbhand_left_index_distal_virtual_link"/>
    <child link="qbhand_left_index_distal_link"/>
    <axis xyz="0 0 -1"/>
    <dynamics damping="0.0" friction="0.0"/>
    <limit effort="100" lower="0.0" upper="0.785" velocity="100"/>
    <mimic joint="qbhand_left_index_distal_joint" multiplier="1.0"/>
  </joint>
  <link name="qbhand_left_index_distal_link">
    <inertial>
      <mass value="0.005"/>
      <origin xyz="0 0 0"/>
      <inertia ixx="1e-06" ixy="0.0" ixz="0.0" iyy="1e-06" iyz="0.0" izz="1e-06"/>
    </inertial>
    <visual>
      <origin rpy="0 0 0" xyz="0 0 0"/>
      <geometry>
        <mesh filename="package://qb_hand_description/meshes/ph_distal.obj" scale="0.001 0.001 0.001"/>
      </geometry>
      <material name="qbhand_left/distal"/>
    </visual>
    <collision>
      <origin rpy="0 0 0" xyz="0 0 0"/>
      <geometry>
        <mesh filename="package://qb_hand_description/meshes/ph_distal.obj" scale="0.001 0.001 0.001"/>
      </geometry>
    </collision>
  </link>
  <joint name="qbhand_left_middle_knuckle_joint" type="fixed">
    <origin rpy="0 3.14 0" xyz="0 0 -0.014"/>
    <parent link="qbhand_left_palm_link"/>
    <child link="qbhand_left_middle_knuckle_link"/>
    <axis xyz="0 0 -1"/>
    <dynamics damping="0.0" friction="0.0"/>
    <limit effort="100" lower="-0.524" upper="0.524" velocity="100"/>
    <mimic joint="qbhand_left_synergy_joint" multiplier="0.0"/>
  </joint>
  <link name="qbhand_left_middle_knuckle_link">
    <inertial>
      <mass value="0.005"/>
      <origin xyz="0 0 0"/>
      <inertia ixx="1e-06" ixy="0.0" ixz="0.0" iyy="1e-06" iyz="0.0" izz="1e-06"/>
    </inertial>
    <visual>
      <origin rpy="0 0 0" xyz="0 0 0"/>
      <geometry>
        <mesh filename="package://qb_hand_description/meshes/ph_knuckle.obj" scale="0.001 0.001 0.001"/>
      </geometry>
      <material name="qbhand_left/knuckle"/>
    </visual>
    <collision>
      <origin rpy="0 0 0" xyz="0 0 0"/>
      <geometry>
        <mesh filename="package://qb_hand_description/meshes/ph_knuckle.obj" scale="0.001 0.001 0.001"/>
      </geometry>
    </collision>
  </link>
  <joint name="qbhand_left_middle_proximal_joint" type="fixed">
    <origin rpy="1.57 0 1.57" xyz="0 0.009 0"/>
    <parent link="qbhand_left_middle_knuckle_link"/>
    <child link="qbhand_left_middle_proximal_virtual_link"/>
    <axis xyz="0 0 -1"/>
    <dynamics damping="0.0" friction="0.0"/>
    <limit effort="100" lower="0.0" upper="0.785" velocity="100"/>
    <mimic joint="qbhand_left_synergy_joint" multiplier="0.785"/>
  </joint>
  <link name="qbhand_left_middle_proximal_virtual_link">
    <inertial>
      <origin rpy="0 0 0" xyz="0 0 0"/>
      <mass value="0.005"/>
      <inertia ixx="1e-08" ixy="0.0" ixz="0.0" iyy="1e-08" iyz="0.0" izz="1e-08"/>
    </inertial>
  </link>
  <joint name="qbhand_left_middle_proximal_virtual_joint" type="fixed">
    <origin rpy="0 0 0" xyz="0.013 0 0"/>
    <parent link="qbhand_left_middle_proximal_virtual_link"/>
    <child link="qbhand_left_middle_proximal_link"/>
    <axis xyz="0 0 -1"/>
    <dynamics damping="0.0" friction="0.0"/>
    <limit effort="100" lower="0.0" upper="0.785" velocity="100"/>
    <mimic joint="qbhand_left_middle_proximal_joint" multiplier="1.0"/>
  </joint>
  <link name="qbhand_left_middle_proximal_link">
    <inertial>
      <mass value="0.005"/>
      <origin xyz="0 0 0"/>
      <inertia ixx="1e-06" ixy="0.0" ixz="0.0" iyy="1e-06" iyz="0.0" izz="1e-06"/>
    </inertial>
    <visual>
      <origin rpy="0 0 0" xyz="0 0 0"/>
      <geometry>
        <mesh filename="package://qb_hand_description/meshes/ph_medium.obj" scale="0.001 0.001 0.001"/>
      </geometry>
      <material name="qbhand_left/proximal"/>
    </visual>
    <collision>
      <origin rpy="0 0 0" xyz="0 0 0"/>
      <geometry>
        <mesh filename="package://qb_hand_description/meshes/ph_medium.obj" scale="0.001 0.001 0.001"/>
      </geometry>
    </collision>
  </link>
  <joint name="qbhand_left_middle_middle_joint" type="fixed">
    <origin rpy="0 0 0" xyz="0.017 0 0"/>
    <parent link="qbhand_left_middle_proximal_link"/>
    <child link="qbhand_left_middle_middle_virtual_link"/>
    <axis xyz="0 0 -1"/>
    <dynamics damping="0.0" friction="0.0"/>
    <limit effort="100" lower="0.0" upper="0.785" velocity="100"/>
    <mimic joint="qbhand_left_synergy_joint" multiplier="0.785"/>
  </joint>
  <link name="qbhand_left_middle_middle_virtual_link">
    <inertial>
      <origin rpy="0 0 0" xyz="0 0 0"/>
      <mass value="0.005"/>
      <inertia ixx="1e-08" ixy="0.0" ixz="0.0" iyy="1e-08" iyz="0.0" izz="1e-08"/>
    </inertial>
  </link>
  <joint name="qbhand_left_middle_middle_virtual_joint" type="fixed">
    <origin rpy="0 0 0" xyz="0.013 0 0"/>
    <parent link="qbhand_left_middle_middle_virtual_link"/>
    <child link="qbhand_left_middle_middle_link"/>
    <axis xyz="0 0 -1"/>
    <dynamics damping="0.0" friction="0.0"/>
    <limit effort="100" lower="0.0" upper="0.785" velocity="100"/>
    <mimic joint="qbhand_left_middle_middle_joint" multiplier="1.0"/>
  </joint>
  <link name="qbhand_left_middle_middle_link">
    <inertial>
      <mass value="0.005"/>
      <origin xyz="0 0 0"/>
      <inertia ixx="1e-06" ixy="0.0" ixz="0.0" iyy="1e-06" iyz="0.0" izz="1e-06"/>
    </inertial>
    <visual>
      <origin rpy="0 0 0" xyz="0 0 0"/>
      <geometry>
        <mesh filename="package://qb_hand_description/meshes/ph_small.obj" scale="0.001 0.001 0.001"/>
      </geometry>
      <material name="qbhand_left/middle"/>
    </visual>
    <collision>
      <origin rpy="0 0 0" xyz="0 0 0"/>
      <geometry>
        <mesh filename="package://qb_hand_description/meshes/ph_small.obj" scale="0.001 0.001 0.001"/>
      </geometry>
    </collision>
  </link>
  <joint name="qbhand_left_middle_distal_joint" type="fixed">
    <origin rpy="0 0 0" xyz="0.009 0 0"/>
    <parent link="qbhand_left_middle_middle_link"/>
    <child link="qbhand_left_middle_distal_virtual_link"/>
    <axis xyz="0 0 -1"/>
    <dynamics damping="0.0" friction="0.0"/>
    <limit effort="100" lower="0.0" upper="0.785" velocity="100"/>
    <mimic joint="qbhand_left_synergy_joint" multiplier="0.785"/>
  </joint>
  <link name="qbhand_left_middle_distal_virtual_link">
    <inertial>
      <origin rpy="0 0 0" xyz="0 0 0"/>
      <mass value="0.005"/>
      <inertia ixx="1e-08" ixy="0.0" ixz="0.0" iyy="1e-08" iyz="0.0" izz="1e-08"/>
    </inertial>
  </link>
  <joint name="qbhand_left_middle_distal_virtual_joint" type="fixed">
    <origin rpy="0 0 0" xyz="0.013 0 0"/>
    <parent link="qbhand_left_middle_distal_virtual_link"/>
    <child link="qbhand_left_middle_distal_link"/>
    <axis xyz="0 0 -1"/>
    <dynamics damping="0.0" friction="0.0"/>
    <limit effort="100" lower="0.0" upper="0.785" velocity="100"/>
    <mimic joint="qbhand_left_middle_distal_joint" multiplier="1.0"/>
  </joint>
  <link name="qbhand_left_middle_distal_link">
    <inertial>
      <mass value="0.005"/>
      <origin xyz="0 0 0"/>
      <inertia ixx="1e-06" ixy="0.0" ixz="0.0" iyy="1e-06" iyz="0.0" izz="1e-06"/>
    </inertial>
    <visual>
      <origin rpy="0 0 0" xyz="0 0 0"/>
      <geometry>
        <mesh filename="package://qb_hand_description/meshes/ph_distal.obj" scale="0.001 0.001 0.001"/>
      </geometry>
      <material name="qbhand_left/distal"/>
    </visual>
    <collision>
      <origin rpy="0 0 0" xyz="0 0 0"/>
      <geometry>
        <mesh filename="package://qb_hand_description/meshes/ph_distal.obj" scale="0.001 0.001 0.001"/>
      </geometry>
    </collision>
  </link>
  <joint name="qbhand_left_ring_knuckle_joint" type="fixed">
    <origin rpy="0 3.14 0" xyz="0.02 -0.007 -0.014"/>
    <parent link="qbhand_left_palm_link"/>
    <child link="qbhand_left_ring_knuckle_link"/>
    <axis xyz="0 0 -1"/>
    <dynamics damping="0.0" friction="0.0"/>
    <limit effort="100" lower="-0.524" upper="0.524" velocity="100"/>
    <mimic joint="qbhand_left_synergy_joint" multiplier="-0.2"/>
  </joint>
  <link name="qbhand_left_ring_knuckle_link">
    <inertial>
      <mass value="0.005"/>
      <origin xyz="0 0 0"/>
      <inertia ixx="1e-06" ixy="0.0" ixz="0.0" iyy="1e-06" iyz="0.0" izz="1e-06"/>
    </inertial>
    <visual>
      <origin rpy="0 0 0" xyz="0 0 0"/>
      <geometry>
        <mesh filename="package://qb_hand_description/meshes/ph_knuckle.obj" scale="0.001 0.001 0.001"/>
      </geometry>
      <material name="qbhand_left/knuckle"/>
    </visual>
    <collision>
      <origin rpy="0 0 0" xyz="0 0 0"/>
      <geometry>
        <mesh filename="package://qb_hand_description/meshes/ph_knuckle.obj" scale="0.001 0.001 0.001"/>
      </geometry>
    </collision>
  </link>
  <joint name="qbhand_left_ring_proximal_joint" type="fixed">
    <origin rpy="1.57 0 1.57" xyz="0 0.009 0"/>
    <parent link="qbhand_left_ring_knuckle_link"/>
    <child link="qbhand_left_ring_proximal_virtual_link"/>
    <axis xyz="0 0 -1"/>
    <dynamics damping="0.0" friction="0.0"/>
    <limit effort="100" lower="0.0" upper="0.785" velocity="100"/>
    <mimic joint="qbhand_left_synergy_joint" multiplier="0.785"/>
  </joint>
  <link name="qbhand_left_ring_proximal_virtual_link">
    <inertial>
      <origin rpy="0 0 0" xyz="0 0 0"/>
      <mass value="0.005"/>
      <inertia ixx="1e-08" ixy="0.0" ixz="0.0" iyy="1e-08" iyz="0.0" izz="1e-08"/>
    </inertial>
  </link>
  <joint name="qbhand_left_ring_proximal_virtual_joint" type="fixed">
    <origin rpy="0 0 0" xyz="0.013 0 0"/>
    <parent link="qbhand_left_ring_proximal_virtual_link"/>
    <child link="qbhand_left_ring_proximal_link"/>
    <axis xyz="0 0 -1"/>
    <dynamics damping="0.0" friction="0.0"/>
    <limit effort="100" lower="0.0" upper="0.785" velocity="100"/>
    <mimic joint="qbhand_left_ring_proximal_joint" multiplier="1.0"/>
  </joint>
  <link name="qbhand_left_ring_proximal_link">
    <inertial>
      <mass value="0.005"/>
      <origin xyz="0 0 0"/>
      <inertia ixx="1e-06" ixy="0.0" ixz="0.0" iyy="1e-06" iyz="0.0" izz="1e-06"/>
    </inertial>
    <visual>
      <origin rpy="0 0 0" xyz="0 0 0"/>
      <geometry>
        <mesh filename="package://qb_hand_description/meshes/ph_medium.obj" scale="0.001 0.001 0.001"/>
      </geometry>
      <material name="qbhand_left/proximal"/>
    </visual>
    <collision>
      <origin rpy="0 0 0" xyz="0 0 0"/>
      <geometry>
        <mesh filename="package://qb_hand_description/meshes/ph_medium.obj" scale="0.001 0.001 0.001"/>
      </geometry>
    </collision>
  </link>
  <joint name="qbhand_left_ring_middle_joint" type="fixed">
    <origin rpy="0 0 0" xyz="0.017 0 0"/>
    <parent link="qbhand_left_ring_proximal_link"/>
    <child link="qbhand_left_ring_middle_virtual_link"/>
    <axis xyz="0 0 -1"/>
    <dynamics damping="0.0" friction="0.0"/>
    <limit effort="100" lower="0.0" upper="0.785" velocity="100"/>
    <mimic joint="qbhand_left_synergy_joint" multiplier="0.785"/>
  </joint>
  <link name="qbhand_left_ring_middle_virtual_link">
    <inertial>
      <origin rpy="0 0 0" xyz="0 0 0"/>
      <mass value="0.005"/>
      <inertia ixx="1e-08" ixy="0.0" ixz="0.0" iyy="1e-08" iyz="0.0" izz="1e-08"/>
    </inertial>
  </link>
  <joint name="qbhand_left_ring_middle_virtual_joint" type="fixed">
    <origin rpy="0 0 0" xyz="0.013 0 0"/>
    <parent link="qbhand_left_ring_middle_virtual_link"/>
    <child link="qbhand_left_ring_middle_link"/>
    <axis xyz="0 0 -1"/>
    <dynamics damping="0.0" friction="0.0"/>
    <limit effort="100" lower="0.0" upper="0.785" velocity="100"/>
    <mimic joint="qbhand_left_ring_middle_joint" multiplier="1.0"/>
  </joint>
  <link name="qbhand_left_ring_middle_link">
    <inertial>
      <mass value="0.005"/>
      <origin xyz="0 0 0"/>
      <inertia ixx="1e-06" ixy="0.0" ixz="0.0" iyy="1e-06" iyz="0.0" izz="1e-06"/>
    </inertial>
    <visual>
      <origin rpy="0 0 0" xyz="0 0 0"/>
      <geometry>
        <mesh filename="package://qb_hand_description/meshes/ph_small.obj" scale="0.001 0.001 0.001"/>
      </geometry>
      <material name="qbhand_left/middle"/>
    </visual>
    <collision>
      <origin rpy="0 0 0" xyz="0 0 0"/>
      <geometry>
        <mesh filename="package://qb_hand_description/meshes/ph_small.obj" scale="0.001 0.001 0.001"/>
      </geometry>
    </collision>
  </link>
  <joint name="qbhand_left_ring_distal_joint" type="fixed">
    <origin rpy="0 0 0" xyz="0.009 0 0"/>
    <parent link="qbhand_left_ring_middle_link"/>
    <child link="qbhand_left_ring_distal_virtual_link"/>
    <axis xyz="0 0 -1"/>
    <dynamics damping="0.0" friction="0.0"/>
    <limit effort="100" lower="0.0" upper="0.785" velocity="100"/>
    <mimic joint="qbhand_left_synergy_joint" multiplier="0.785"/>
  </joint>
  <link name="qbhand_left_ring_distal_virtual_link">
    <inertial>
      <origin rpy="0 0 0" xyz="0 0 0"/>
      <mass value="0.005"/>
      <inertia ixx="1e-08" ixy="0.0" ixz="0.0" iyy="1e-08" iyz="0.0" izz="1e-08"/>
    </inertial>
  </link>
  <joint name="qbhand_left_ring_distal_virtual_joint" type="fixed">
    <origin rpy="0 0 0" xyz="0.013 0 0"/>
    <parent link="qbhand_left_ring_distal_virtual_link"/>
    <child link="qbhand_left_ring_distal_link"/>
    <axis xyz="0 0 -1"/>
    <dynamics damping="0.0" friction="0.0"/>
    <limit effort="100" lower="0.0" upper="0.785" velocity="100"/>
    <mimic joint="qbhand_left_ring_distal_joint" multiplier="1.0"/>
  </joint>
  <link name="qbhand_left_ring_distal_link">
    <inertial>
      <mass value="0.005"/>
      <origin xyz="0 0 0"/>
      <inertia ixx="1e-06" ixy="0.0" ixz="0.0" iyy="1e-06" iyz="0.0" izz="1e-06"/>
    </inertial>
    <visual>
      <origin rpy="0 0 0" xyz="0 0 0"/>
      <geometry>
        <mesh filename="package://qb_hand_description/meshes/ph_distal.obj" scale="0.001 0.001 0.001"/>
      </geometry>
      <material name="qbhand_left/distal"/>
    </visual>
    <collision>
      <origin rpy="0 0 0" xyz="0 0 0"/>
      <geometry>
        <mesh filename="package://qb_hand_description/meshes/ph_distal.obj" scale="0.001 0.001 0.001"/>
      </geometry>
    </collision>
  </link>
  <joint name="qbhand_left_little_knuckle_joint" type="fixed">
    <origin rpy="0 3.14 0" xyz="0.04 -0.012 -0.014"/>
    <parent link="qbhand_left_palm_link"/>
    <child link="qbhand_left_little_knuckle_link"/>
    <axis xyz="0 0 -1"/>
    <dynamics damping="0.0" friction="0.0"/>
    <limit effort="100" lower="-0.524" upper="0.524" velocity="100"/>
    <mimic joint="qbhand_left_synergy_joint" multiplier="-0.4"/>
  </joint>
  <link name="qbhand_left_little_knuckle_link">
    <inertial>
      <mass value="0.005"/>
      <origin xyz="0 0 0"/>
      <inertia ixx="1e-06" ixy="0.0" ixz="0.0" iyy="1e-06" iyz="0.0" izz="1e-06"/>
    </inertial>
    <visual>
      <origin rpy="0 0 0" xyz="0 0 0"/>
      <geometry>
        <mesh filename="package://qb_hand_description/meshes/ph_knuckle.obj" scale="0.001 0.001 0.001"/>
      </geometry>
      <material name="qbhand_left/knuckle"/>
    </visual>
    <collision>
      <origin rpy="0 0 0" xyz="0 0 0"/>
      <geometry>
        <mesh filename="package://qb_hand_description/meshes/ph_knuckle.obj" scale="0.001 0.001 0.001"/>
      </geometry>
    </collision>
  </link>
  <joint name="qbhand_left_little_proximal_joint" type="fixed">
    <origin rpy="1.57 0 1.57" xyz="0 0.009 0"/>
    <parent link="qbhand_left_little_knuckle_link"/>
    <child link="qbhand_left_little_proximal_virtual_link"/>
    <axis xyz="0 0 -1"/>
    <dynamics damping="0.0" friction="0.0"/>
    <limit effort="100" lower="0.0" upper="0.785" velocity="100"/>
    <mimic joint="qbhand_left_synergy_joint" multiplier="0.785"/>
  </joint>
  <link name="qbhand_left_little_proximal_virtual_link">
    <inertial>
      <origin rpy="0 0 0" xyz="0 0 0"/>
      <mass value="0.005"/>
      <inertia ixx="1e-08" ixy="0.0" ixz="0.0" iyy="1e-08" iyz="0.0" izz="1e-08"/>
    </inertial>
  </link>
  <joint name="qbhand_left_little_proximal_virtual_joint" type="fixed">
    <origin rpy="0 0 0" xyz="0.013 0 0"/>
    <parent link="qbhand_left_little_proximal_virtual_link"/>
    <child link="qbhand_left_little_proximal_link"/>
    <axis xyz="0 0 -1"/>
    <dynamics damping="0.0" friction="0.0"/>
    <limit effort="100" lower="0.0" upper="0.785" velocity="100"/>
    <mimic joint="qbhand_left_little_proximal_joint" multiplier="1.0"/>
  </joint>
  <link name="qbhand_left_little_proximal_link">
    <inertial>
      <mass value="0.005"/>
      <origin xyz="0 0 0"/>
      <inertia ixx="1e-06" ixy="0.0" ixz="0.0" iyy="1e-06" iyz="0.0" izz="1e-06"/>
    </inertial>
    <visual>
      <origin rpy="0 0 0" xyz="0 0 0"/>
      <geometry>
        <mesh filename="package://qb_hand_description/meshes/ph_small.obj" scale="0.001 0.001 0.001"/>
      </geometry>
      <material name="qbhand_left/proximal"/>
    </visual>
    <collision>
      <origin rpy="0 0 0" xyz="0 0 0"/>
      <geometry>
        <mesh filename="package://qb_hand_description/meshes/ph_small.obj" scale="0.001 0.001 0.001"/>
      </geometry>
    </collision>
  </link>
  <joint name="qbhand_left_little_middle_joint" type="fixed">
    <origin rpy="0 0 0" xyz="0.009 0 0"/>
    <parent link="qbhand_left_little_proximal_link"/>
    <child link="qbhand_left_little_middle_virtual_link"/>
    <axis xyz="0 0 -1"/>
    <dynamics damping="0.0" friction="0.0"/>
    <limit effort="100" lower="0.0" upper="0.785" velocity="100"/>
    <mimic joint="qbhand_left_synergy_joint" multiplier="0.785"/>
  </joint>
  <link name="qbhand_left_little_middle_virtual_link">
    <inertial>
      <origin rpy="0 0 0" xyz="0 0 0"/>
      <mass value="0.005"/>
      <inertia ixx="1e-08" ixy="0.0" ixz="0.0" iyy="1e-08" iyz="0.0" izz="1e-08"/>
    </inertial>
  </link>
  <joint name="qbhand_left_little_middle_virtual_joint" type="fixed">
    <origin rpy="0 0 0" xyz="0.013 0 0"/>
    <parent link="qbhand_left_little_middle_virtual_link"/>
    <child link="qbhand_left_little_middle_link"/>
    <axis xyz="0 0 -1"/>
    <dynamics damping="0.0" friction="0.0"/>
    <limit effort="100" lower="0.0" upper="0.785" velocity="100"/>
    <mimic joint="qbhand_left_little_middle_joint" multiplier="1.0"/>
  </joint>
  <link name="qbhand_left_little_middle_link">
    <inertial>
      <mass value="0.005"/>
      <origin xyz="0 0 0"/>
      <inertia ixx="1e-06" ixy="0.0" ixz="0.0" iyy="1e-06" iyz="0.0" izz="1e-06"/>
    </inertial>
    <visual>
      <origin rpy="0 0 0" xyz="0 0 0"/>
      <geometry>
        <mesh filename="package://qb_hand_description/meshes/ph_small.obj" scale="0.001 0.001 0.001"/>
      </geometry>
      <material name="qbhand_left/middle"/>
    </visual>
    <collision>
      <origin rpy="0 0 0" xyz="0 0 0"/>
      <geometry>
        <mesh filename="package://qb_hand_description/meshes/ph_small.obj" scale="0.001 0.001 0.001"/>
      </geometry>
    </collision>
  </link>
  <joint name="qbhand_left_little_distal_joint" type="fixed">
    <origin rpy="0 0 0" xyz="0.009 0 0"/>
    <parent link="qbhand_left_little_middle_link"/>
    <child link="qbhand_left_little_distal_virtual_link"/>
    <axis xyz="0 0 -1"/>
    <dynamics damping="0.0" friction="0.0"/>
    <limit effort="100" lower="0.0" upper="0.785" velocity="100"/>
    <mimic joint="qbhand_left_synergy_joint" multiplier="0.785"/>
  </joint>
  <link name="qbhand_left_little_distal_virtual_link">
    <inertial>
      <origin rpy="0 0 0" xyz="0 0 0"/>
      <mass value="0.005"/>
      <inertia ixx="1e-08" ixy="0.0" ixz="0.0" iyy="1e-08" iyz="0.0" izz="1e-08"/>
    </inertial>
  </link>
  <joint name="qbhand_left_little_distal_virtual_joint" type="fixed">
    <origin rpy="0 0 0" xyz="0.013 0 0"/>
    <parent link="qbhand_left_little_distal_virtual_link"/>
    <child link="qbhand_left_little_distal_link"/>
    <axis xyz="0 0 -1"/>
    <dynamics damping="0.0" friction="0.0"/>
    <limit effort="100" lower="0.0" upper="0.785" velocity="100"/>
    <mimic joint="qbhand_left_little_distal_joint" multiplier="1.0"/>
  </joint>
  <link name="qbhand_left_little_distal_link">
    <inertial>
      <mass value="0.005"/>
      <origin xyz="0 0 0"/>
      <inertia ixx="1e-06" ixy="0.0" ixz="0.0" iyy="1e-06" iyz="0.0" izz="1e-06"/>
    </inertial>
    <visual>
      <origin rpy="0 0 0" xyz="0 0 0"/>
      <geometry>
        <mesh filename="package://qb_hand_description/meshes/ph_distal.obj" scale="0.001 0.001 0.001"/>
      </geometry>
      <material name="qbhand_left/distal"/>
    </visual>
    <collision>
      <origin rpy="0 0 0" xyz="0 0 0"/>
      <geometry>
        <mesh filename="package://qb_hand_description/meshes/ph_distal.obj" scale="0.001 0.001 0.001"/>
      </geometry>
    </collision>
  </link>


  <joint name="j_neck_y" type="revolute">
    <origin xyz="-0.004458 0.0 0.680766" rpy="0.0 0.0 0.0"/>
    <parent link="pelvis"/>
    <child link="head"/>
    <axis xyz="0.0 1 0.0"/>
    <limit lower="-0.0872664626" upper="0.698132" effort="-1.0" velocity="1.0"/>
  </joint>
  <link name="head">
    <inertial>
      <origin xyz="0.01272383 -0.00326913 0.07053205" rpy="0.0 0.0 0.0"/>
      <mass value="2.355"/>
      <inertia ixx="0.01719944" ixy="-8.079E-5" ixz="-0.0013284" iyy="0.0196904" iyz="2.3833E-4" izz="0.0077437"/>
    </inertial>
    <visual>
      <origin xyz="0.0 0.0 0.0" rpy="1.5707963 0.0 1.5707963"/>
      <geometry>
        <mesh filename="package://eve/meshes/head.obj" scale="1 1 1"/>
      </geometry>
    </visual>
  </link>
  <gazebo reference="head">
    <sensor name="realsense" type="camera">
      <camera>
        <image>
          <width>640</width>
          <height>480</height>
          <format>R8G8B8</format>
        </image>
        <horizontal_fov>1.487021</horizontal_fov>
        <clip>
          <near>0.2</near>
          <far>10</far>
        </clip>
      </camera>
      <update_rate>6</update_rate>
      <pose frame="">0.116669 0 0.17015 0 0.174533 0</pose>
    </sensor>
  </gazebo>

</robot>
